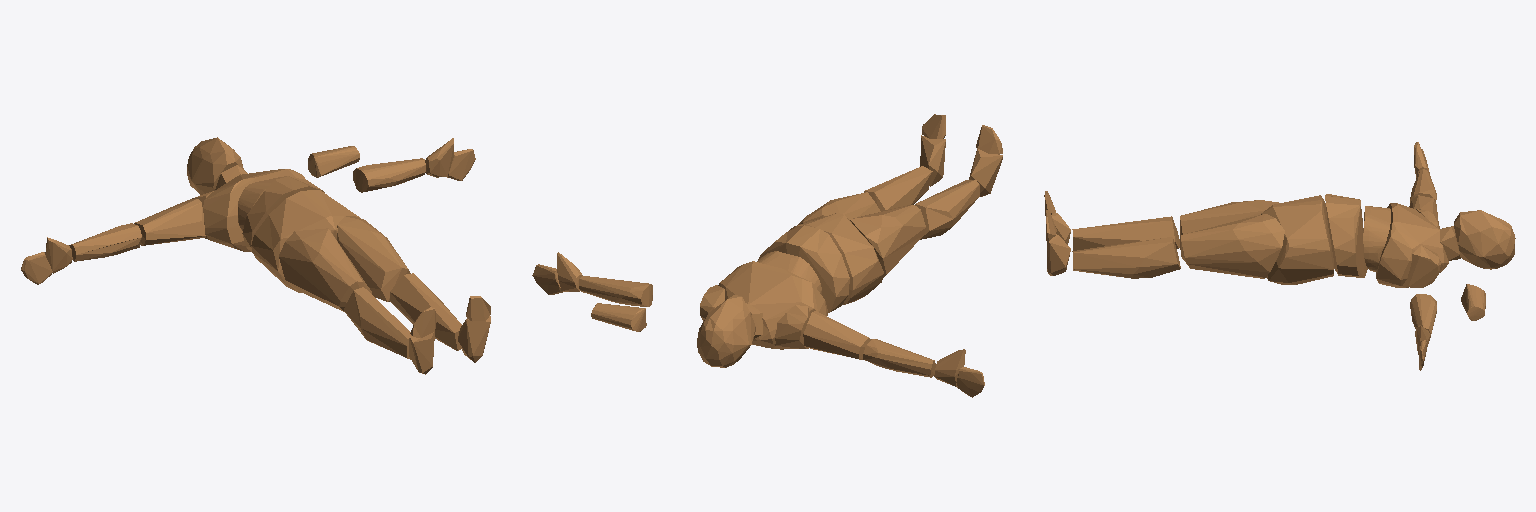
--- What the picture shows (computed from the rendered views, not written in the file) ---
3 views of the same robot in one strip: view 1: azimuth 30°, elevation 25°; view 2: azimuth 150°, elevation 25°; view 3: azimuth 270°, elevation 25° (orthographic).
Robot: human — 94 links, 93 joints (69 revolute, 24 fixed); root link base; default pose: every joint at zero.
Visible links, largest first — view 1: right_hip_limb, pelvis_limb, left_hip_limb, spine_4_limb, right_knee_limb, left_knee_limb, right_shoulder_limb, head_limb, right_elbow_limb, left_elbow_limb, spine_2_limb, left_shoulder_limb (+8 smaller); view 2: spine_4_limb, spine_2_limb, head_limb, right_hip_limb, pelvis_limb, right_knee_limb, right_shoulder_limb, left_knee_limb, right_elbow_limb, left_elbow_limb, right_clavicle_limb, left_hip_limb (+9 smaller); view 3: left_hip_limb, pelvis_limb, left_knee_limb, spine_4_limb, head_limb, spine_2_limb, right_knee_limb, right_hip_limb, spine_3_limb, left_clavicle_limb, left_elbow_limb, left_ankle_limb (+1 smaller).
Boxes of the visible links, x1,y1,x2,y2 form: right_hip_limb: (279,228,371,311); pelvis_limb: (251,190,359,292); left_hip_limb: (337,216,410,301); spine_4_limb: (203,169,305,251); right_knee_limb: (344,287,410,359); left_knee_limb: (390,273,461,350); right_shoulder_limb: (134,199,205,245); head_limb: (187,137,243,194); right_elbow_limb: (69,223,141,261); left_elbow_limb: (353,158,425,192); spine_2_limb: (242,176,324,251); left_shoulder_limb: (308,146,359,177); spine_4_limb: (718,261,827,349); spine_2_limb: (758,225,849,312); head_limb: (697,295,755,367); right_hip_limb: (850,205,925,277); pelvis_limb: (789,213,883,305); right_knee_limb: (915,180,979,239); right_shoulder_limb: (803,311,871,359); left_knee_limb: (864,166,932,211); right_elbow_limb: (863,339,935,377); left_elbow_limb: (579,276,652,306); right_clavicle_limb: (773,305,810,348); left_hip_limb: (798,192,880,224); left_hip_limb: (1181,214,1284,278); pelvis_limb: (1261,195,1333,284); left_knee_limb: (1072,237,1180,278); spine_4_limb: (1376,203,1448,287); head_limb: (1454,210,1515,269); spine_2_limb: (1325,194,1367,277); right_knee_limb: (1072,216,1179,250); right_hip_limb: (1180,200,1278,249); spine_3_limb: (1363,206,1390,271); left_clavicle_limb: (1403,245,1442,287); left_elbow_limb: (1410,294,1436,337); left_ankle_limb: (1047,234,1070,275).
Bounding box of the posed robot: 1.84 × 1.79 × 0.3258 m (x, y, z).
24 mesh visuals loaded from 24 distinct referenced files (24 OBJ).

URDF robot description (human):
<?xml version="1.0" ?>
<robot name="human">
	<link name="base">
		<inertial>
			<origin rpy="0.00000 0.0000 0.00000" xyz="0.00000 0.00000 0.00000"/>
			<mass value="0.00010"/>
			<inertia ixx="0.00000" ixy="0" ixz="0" iyy="0.00000" iyz="0" izz="0.00000"/>
		</inertial>
	</link>
	<link name="pelvis_limb">
		<inertial>
			<origin rpy="0.00000 0.0000 0.00000" xyz="0.00000 0.00000 0.00000"/>
			<mass value="2.00000"/>
			<inertia ixx="0.00000" ixy="0" ixz="0" iyy="0.00000" iyz="0" izz="0.00000"/>
		</inertial>
		<visual>
			<origin rpy="0.00000 0.0000 0.00000" xyz="0.00000 0.00000 0.00000"/>
			<geometry>
				<mesh filename="./assistive_gym/envs/assets/human/meshes/Pelvis.obj" scale="1.00000 1.00000 1.00000"/>
			</geometry>
			<material name="mat_0_0">
				<color rgba="0.71879 0.53909 0.35939 1.00000" />
			</material>
		</visual>
		<collision>
			<origin rpy="0.00000 0.0000 0.00000" xyz="0.00000 0.00000 0.00000"/>
			<geometry>
				<mesh filename="./assistive_gym/envs/assets/human/meshes/Pelvis.obj" scale="1.00000 1.00000 1.00000"/>
			</geometry>
		</collision>
	</link>
	<link name="left_hip_rx">
		<inertial>
			<origin rpy="0.00000 0.0000 0.00000" xyz="0.00000 0.00000 0.00000"/>
			<mass value="0.00000"/>
			<inertia ixx="0.00000" ixy="0" ixz="0" iyy="0.00000" iyz="0" izz="0.00000"/>
		</inertial>
		<visual>
			<origin rpy="0.00000 0.0000 0.00000" xyz="0.00000 0.00000 0.00000"/>
			<geometry>
				<sphere radius="0.00000"/>
			</geometry>
			<material name="mat_1_0">
				<color rgba="0.71879 0.53909 0.35939 1.00000" />
			</material>
		</visual>
		<collision>
			<origin rpy="0.00000 0.0000 0.00000" xyz="0.00000 0.00000 0.00000"/>
			<geometry>
				<sphere radius="0.00000"/>
			</geometry>
		</collision>
	</link>
	<link name="left_hip_ry">
		<inertial>
			<origin rpy="0.00000 0.0000 0.00000" xyz="0.00000 0.00000 0.00000"/>
			<mass value="0.00000"/>
			<inertia ixx="0.00000" ixy="0" ixz="0" iyy="0.00000" iyz="0" izz="0.00000"/>
		</inertial>
		<visual>
			<origin rpy="0.00000 0.0000 0.00000" xyz="0.00000 0.00000 0.00000"/>
			<geometry>
				<sphere radius="0.00000"/>
			</geometry>
			<material name="mat_2_0">
				<color rgba="0.71879 0.53909 0.35939 1.00000" />
			</material>
		</visual>
		<collision>
			<origin rpy="0.00000 0.0000 0.00000" xyz="0.00000 0.00000 0.00000"/>
			<geometry>
				<sphere radius="0.00000"/>
			</geometry>
		</collision>
	</link>
	<link name="left_hip_rz">
		<inertial>
			<origin rpy="0.00000 0.0000 0.00000" xyz="0.00000 0.00000 0.00000"/>
			<mass value="0.00000"/>
			<inertia ixx="0.00000" ixy="0" ixz="0" iyy="0.00000" iyz="0" izz="0.00000"/>
		</inertial>
		<visual>
			<origin rpy="0.00000 0.0000 0.00000" xyz="0.00000 0.00000 0.00000"/>
			<geometry>
				<sphere radius="0.00000"/>
			</geometry>
			<material name="mat_3_0">
				<color rgba="0.71879 0.53909 0.35939 1.00000" />
			</material>
		</visual>
		<collision>
			<origin rpy="0.00000 0.0000 0.00000" xyz="0.00000 0.00000 0.00000"/>
			<geometry>
				<sphere radius="0.00000"/>
			</geometry>
		</collision>
	</link>
	<link name="left_hip_limb">
		<inertial>
			<origin rpy="0.00000 0.0000 0.00000" xyz="0.00000 0.00000 0.00000"/>
			<mass value="2.00000"/>
			<inertia ixx="0.00000" ixy="0" ixz="0" iyy="0.00000" iyz="0" izz="0.00000"/>
		</inertial>
		<visual>
			<origin rpy="0.00000 0.0000 0.00000" xyz="0.00000 0.00000 0.00000"/>
			<geometry>
				<mesh filename="./././assistive_gym/envs/assets/human/meshes/L_Hip.obj" scale="1.00000 1.00000 1.00000"/>
			</geometry>
			<material name="mat_4_0">
				<color rgba="0.71879 0.53909 0.35939 1.00000" />
			</material>
		</visual>
		<collision>
			<origin rpy="0.00000 0.0000 0.00000" xyz="0.00000 0.00000 0.00000"/>
			<geometry>
				<mesh filename="./././assistive_gym/envs/assets/human/meshes/L_Hip.obj" scale="1.00000 1.00000 1.00000"/>
			</geometry>
		</collision>
	</link>
	<link name="left_knee_rx">
		<inertial>
			<origin rpy="0.00000 0.0000 0.00000" xyz="0.00000 0.00000 0.00000"/>
			<mass value="0.00000"/>
			<inertia ixx="0.00000" ixy="0" ixz="0" iyy="0.00000" iyz="0" izz="0.00000"/>
		</inertial>
		<visual>
			<origin rpy="0.00000 0.0000 0.00000" xyz="0.00000 0.00000 0.00000"/>
			<geometry>
				<sphere radius="0.00000"/>
			</geometry>
			<material name="mat_5_0">
				<color rgba="0.71879 0.53909 0.35939 1.00000" />
			</material>
		</visual>
		<collision>
			<origin rpy="0.00000 0.0000 0.00000" xyz="0.00000 0.00000 0.00000"/>
			<geometry>
				<sphere radius="0.00000"/>
			</geometry>
		</collision>
	</link>
	<link name="left_knee_ry">
		<inertial>
			<origin rpy="0.00000 0.0000 0.00000" xyz="0.00000 0.00000 0.00000"/>
			<mass value="0.00000"/>
			<inertia ixx="0.00000" ixy="0" ixz="0" iyy="0.00000" iyz="0" izz="0.00000"/>
		</inertial>
		<visual>
			<origin rpy="0.00000 0.0000 0.00000" xyz="0.00000 0.00000 0.00000"/>
			<geometry>
				<sphere radius="0.00000"/>
			</geometry>
			<material name="mat_6_0">
				<color rgba="0.71879 0.53909 0.35939 1.00000" />
			</material>
		</visual>
		<collision>
			<origin rpy="0.00000 0.0000 0.00000" xyz="0.00000 0.00000 0.00000"/>
			<geometry>
				<sphere radius="0.00000"/>
			</geometry>
		</collision>
	</link>
	<link name="left_knee_rz">
		<inertial>
			<origin rpy="0.00000 0.0000 0.00000" xyz="0.00000 0.00000 0.00000"/>
			<mass value="0.00000"/>
			<inertia ixx="0.00000" ixy="0" ixz="0" iyy="0.00000" iyz="0" izz="0.00000"/>
		</inertial>
		<visual>
			<origin rpy="0.00000 0.0000 0.00000" xyz="0.00000 0.00000 0.00000"/>
			<geometry>
				<sphere radius="0.00000"/>
			</geometry>
			<material name="mat_7_0">
				<color rgba="0.71879 0.53909 0.35939 1.00000" />
			</material>
		</visual>
		<collision>
			<origin rpy="0.00000 0.0000 0.00000" xyz="0.00000 0.00000 0.00000"/>
			<geometry>
				<sphere radius="0.00000"/>
			</geometry>
		</collision>
	</link>
	<link name="left_knee_limb">
		<inertial>
			<origin rpy="0.00000 0.0000 0.00000" xyz="0.00000 0.00000 0.00000"/>
			<mass value="2.00000"/>
			<inertia ixx="0.03487" ixy="0" ixz="0" iyy="0.00791" iyz="0" izz="0.03324"/>
		</inertial>
		<visual>
			<origin rpy="0.00000 0.0000 0.00000" xyz="0.00000 0.00000 0.00000"/>
			<geometry>
				<mesh filename="./././assistive_gym/envs/assets/human/meshes/L_Knee.obj" scale="1.00000 1.00000 1.00000"/>
			</geometry>
			<material name="mat_8_0">
				<color rgba="0.71879 0.53909 0.35939 1.00000" />
			</material>
		</visual>
		<collision>
			<origin rpy="0.00000 0.0000 0.00000" xyz="0.00000 0.00000 0.00000"/>
			<geometry>
				<mesh filename="./././assistive_gym/envs/assets/human/meshes/L_Knee.obj" scale="1.00000 1.00000 1.00000"/>
			</geometry>
		</collision>
	</link>
	<link name="left_ankle_rx">
		<inertial>
			<origin rpy="0.00000 0.0000 0.00000" xyz="0.00000 0.00000 0.00000"/>
			<mass value="0.00000"/>
			<inertia ixx="0.00000" ixy="0" ixz="0" iyy="0.00000" iyz="0" izz="0.00000"/>
		</inertial>
		<visual>
			<origin rpy="0.00000 0.0000 0.00000" xyz="0.00000 0.00000 0.00000"/>
			<geometry>
				<sphere radius="0.00000"/>
			</geometry>
			<material name="mat_9_0">
				<color rgba="0.71879 0.53909 0.35939 1.00000" />
			</material>
		</visual>
		<collision>
			<origin rpy="0.00000 0.0000 0.00000" xyz="0.00000 0.00000 0.00000"/>
			<geometry>
				<sphere radius="0.00000"/>
			</geometry>
		</collision>
	</link>
	<link name="left_ankle_ry">
		<inertial>
			<origin rpy="0.00000 0.0000 0.00000" xyz="0.00000 0.00000 0.00000"/>
			<mass value="0.00000"/>
			<inertia ixx="0.00000" ixy="0" ixz="0" iyy="0.00000" iyz="0" izz="0.00000"/>
		</inertial>
		<visual>
			<origin rpy="0.00000 0.0000 0.00000" xyz="0.00000 0.00000 0.00000"/>
			<geometry>
				<sphere radius="0.00000"/>
			</geometry>
			<material name="mat_10_0">
				<color rgba="0.71879 0.53909 0.35939 1.00000" />
			</material>
		</visual>
		<collision>
			<origin rpy="0.00000 0.0000 0.00000" xyz="0.00000 0.00000 0.00000"/>
			<geometry>
				<sphere radius="0.00000"/>
			</geometry>
		</collision>
	</link>
	<link name="left_ankle_rz">
		<inertial>
			<origin rpy="0.00000 0.0000 0.00000" xyz="0.00000 0.00000 0.00000"/>
			<mass value="0.00000"/>
			<inertia ixx="0.00000" ixy="0" ixz="0" iyy="0.00000" iyz="0" izz="0.00000"/>
		</inertial>
		<visual>
			<origin rpy="0.00000 0.0000 0.00000" xyz="0.00000 0.00000 0.00000"/>
			<geometry>
				<sphere radius="0.00000"/>
			</geometry>
			<material name="mat_11_0">
				<color rgba="0.71879 0.53909 0.35939 1.00000" />
			</material>
		</visual>
		<collision>
			<origin rpy="0.00000 0.0000 0.00000" xyz="0.00000 0.00000 0.00000"/>
			<geometry>
				<sphere radius="0.00000"/>
			</geometry>
		</collision>
	</link>
	<link name="left_ankle_limb">
		<inertial>
			<origin rpy="0.00000 0.0000 0.00000" xyz="0.00000 0.00000 0.00000"/>
			<mass value="2.00000"/>
			<inertia ixx="0.00736" ixy="0" ixz="0" iyy="0.00763" iyz="0" izz="0.00377"/>
		</inertial>
		<visual>
			<origin rpy="0.00000 0.0000 0.00000" xyz="0.00000 0.00000 0.00000"/>
			<geometry>
				<mesh filename="./././assistive_gym/envs/assets/human/meshes/L_Ankle.obj" scale="1.00000 1.00000 1.00000"/>
			</geometry>
			<material name="mat_12_0">
				<color rgba="0.71879 0.53909 0.35939 1.00000" />
			</material>
		</visual>
		<collision>
			<origin rpy="0.00000 0.0000 0.00000" xyz="0.00000 0.00000 0.00000"/>
			<geometry>
				<mesh filename="./././assistive_gym/envs/assets/human/meshes/L_Ankle.obj" scale="1.00000 1.00000 1.00000"/>
			</geometry>
		</collision>
	</link>
	<link name="left_foot_rx">
		<inertial>
			<origin rpy="0.00000 0.0000 0.00000" xyz="0.00000 0.00000 0.00000"/>
			<mass value="0.00000"/>
			<inertia ixx="0.00000" ixy="0" ixz="0" iyy="0.00000" iyz="0" izz="0.00000"/>
		</inertial>
		<visual>
			<origin rpy="0.00000 0.0000 0.00000" xyz="0.00000 0.00000 0.00000"/>
			<geometry>
				<sphere radius="0.00000"/>
			</geometry>
			<material name="mat_13_0">
				<color rgba="0.71879 0.53909 0.35939 1.00000" />
			</material>
		</visual>
		<collision>
			<origin rpy="0.00000 0.0000 0.00000" xyz="0.00000 0.00000 0.00000"/>
			<geometry>
				<sphere radius="0.00000"/>
			</geometry>
		</collision>
	</link>
	<link name="left_foot_ry">
		<inertial>
			<origin rpy="0.00000 0.0000 0.00000" xyz="0.00000 0.00000 0.00000"/>
			<mass value="0.00000"/>
			<inertia ixx="0.00000" ixy="0" ixz="0" iyy="0.00000" iyz="0" izz="0.00000"/>
		</inertial>
		<visual>
			<origin rpy="0.00000 0.0000 0.00000" xyz="0.00000 0.00000 0.00000"/>
			<geometry>
				<sphere radius="0.00000"/>
			</geometry>
			<material name="mat_14_0">
				<color rgba="0.71879 0.53909 0.35939 1.00000" />
			</material>
		</visual>
		<collision>
			<origin rpy="0.00000 0.0000 0.00000" xyz="0.00000 0.00000 0.00000"/>
			<geometry>
				<sphere radius="0.00000"/>
			</geometry>
		</collision>
	</link>
	<link name="left_foot_rz">
		<inertial>
			<origin rpy="0.00000 0.0000 0.00000" xyz="0.00000 0.00000 0.00000"/>
			<mass value="0.00000"/>
			<inertia ixx="0.00000" ixy="0" ixz="0" iyy="0.00000" iyz="0" izz="0.00000"/>
		</inertial>
		<visual>
			<origin rpy="0.00000 0.0000 0.00000" xyz="0.00000 0.00000 0.00000"/>
			<geometry>
				<sphere radius="0.00000"/>
			</geometry>
			<material name="mat_15_0">
				<color rgba="0.71879 0.53909 0.35939 1.00000" />
			</material>
		</visual>
		<collision>
			<origin rpy="0.00000 0.0000 0.00000" xyz="0.00000 0.00000 0.00000"/>
			<geometry>
				<sphere radius="0.00000"/>
			</geometry>
		</collision>
	</link>
	<link name="left_foot_limb">
		<inertial>
			<origin rpy="0.00000 0.0000 0.00000" xyz="0.00000 0.00000 0.00000"/>
			<mass value="2.00000"/>
			<inertia ixx="0.00118" ixy="0" ixz="0" iyy="0.00193" iyz="0" izz="0.00113"/>
		</inertial>
		<visual>
			<origin rpy="0.00000 0.0000 0.00000" xyz="0.00000 0.00000 0.00000"/>
			<geometry>
				<mesh filename="./././assistive_gym/envs/assets/human/meshes/L_Foot.obj" scale="1.00000 1.00000 1.00000"/>
			</geometry>
			<material name="mat_16_0">
				<color rgba="0.71879 0.53909 0.35939 1.00000" />
			</material>
		</visual>
		<collision>
			<origin rpy="0.00000 0.0000 0.00000" xyz="0.00000 0.00000 0.00000"/>
			<geometry>
				<mesh filename="./././assistive_gym/envs/assets/human/meshes/L_Foot.obj" scale="1.00000 1.00000 1.00000"/>
			</geometry>
		</collision>
	</link>
	<link name="right_hip_rx">
		<inertial>
			<origin rpy="0.00000 0.0000 0.00000" xyz="0.00000 0.00000 0.00000"/>
			<mass value="0.00000"/>
			<inertia ixx="0.00000" ixy="0" ixz="0" iyy="0.00000" iyz="0" izz="0.00000"/>
		</inertial>
		<visual>
			<origin rpy="0.00000 0.0000 0.00000" xyz="0.00000 0.00000 0.00000"/>
			<geometry>
				<sphere radius="0.00000"/>
			</geometry>
			<material name="mat_19_0">
				<color rgba="0.71879 0.53909 0.35939 1.00000" />
			</material>
		</visual>
		<collision>
			<origin rpy="0.00000 0.0000 0.00000" xyz="0.00000 0.00000 0.00000"/>
			<geometry>
				<sphere radius="0.00000"/>
			</geometry>
		</collision>
	</link>
	<link name="right_hip_ry">
		<inertial>
			<origin rpy="0.00000 0.0000 0.00000" xyz="0.00000 0.00000 0.00000"/>
			<mass value="0.00000"/>
			<inertia ixx="0.00000" ixy="0" ixz="0" iyy="0.00000" iyz="0" izz="0.00000"/>
		</inertial>
		<visual>
			<origin rpy="0.00000 0.0000 0.00000" xyz="0.00000 0.00000 0.00000"/>
			<geometry>
				<sphere radius="0.00000"/>
			</geometry>
			<material name="mat_20_0">
				<color rgba="0.71879 0.53909 0.35939 1.00000" />
			</material>
		</visual>
		<collision>
			<origin rpy="0.00000 0.0000 0.00000" xyz="0.00000 0.00000 0.00000"/>
			<geometry>
				<sphere radius="0.00000"/>
			</geometry>
		</collision>
	</link>
	<link name="right_hip_rz">
		<inertial>
			<origin rpy="0.00000 0.0000 0.00000" xyz="0.00000 0.00000 0.00000"/>
			<mass value="0.00000"/>
			<inertia ixx="0.00000" ixy="0" ixz="0" iyy="0.00000" iyz="0" izz="0.00000"/>
		</inertial>
		<visual>
			<origin rpy="0.00000 0.0000 0.00000" xyz="0.00000 0.00000 0.00000"/>
			<geometry>
				<sphere radius="0.00000"/>
			</geometry>
			<material name="mat_21_0">
				<color rgba="0.71879 0.53909 0.35939 1.00000" />
			</material>
		</visual>
		<collision>
			<origin rpy="0.00000 0.0000 0.00000" xyz="0.00000 0.00000 0.00000"/>
			<geometry>
				<sphere radius="0.00000"/>
			</geometry>
		</collision>
	</link>
	<link name="right_hip_limb">
		<inertial>
			<origin rpy="0.00000 0.0000 0.00000" xyz="0.00000 0.00000 0.00000"/>
			<mass value="2.00000"/>
			<inertia ixx="0.00000" ixy="0" ixz="0" iyy="0.00000" iyz="0" izz="0.00000"/>
		</inertial>
		<visual>
			<origin rpy="0.00000 0.0000 0.00000" xyz="0.00000 0.00000 0.00000"/>
			<geometry>
				<mesh filename="./././assistive_gym/envs/assets/human/meshes/R_Hip.obj" scale="1.00000 1.00000 1.00000"/>
			</geometry>
			<material name="mat_22_0">
				<color rgba="0.71879 0.53909 0.35939 1.00000" />
			</material>
		</visual>
		<collision>
			<origin rpy="0.00000 0.0000 0.00000" xyz="0.00000 0.00000 0.00000"/>
			<geometry>
				<mesh filename="./././assistive_gym/envs/assets/human/meshes/R_Hip.obj" scale="1.00000 1.00000 1.00000"/>
			</geometry>
		</collision>
	</link>
	<link name="right_knee_rx">
		<inertial>
			<origin rpy="0.00000 0.0000 0.00000" xyz="0.00000 0.00000 0.00000"/>
			<mass value="0.00000"/>
			<inertia ixx="0.00000" ixy="0" ixz="0" iyy="0.00000" iyz="0" izz="0.00000"/>
		</inertial>
		<visual>
			<origin rpy="0.00000 0.0000 0.00000" xyz="0.00000 0.00000 0.00000"/>
			<geometry>
				<sphere radius="0.00000"/>
			</geometry>
			<material name="mat_23_0">
				<color rgba="0.71879 0.53909 0.35939 1.00000" />
			</material>
		</visual>
		<collision>
			<origin rpy="0.00000 0.0000 0.00000" xyz="0.00000 0.00000 0.00000"/>
			<geometry>
				<sphere radius="0.00000"/>
			</geometry>
		</collision>
	</link>
	<link name="right_knee_ry">
		<inertial>
			<origin rpy="0.00000 0.0000 0.00000" xyz="0.00000 0.00000 0.00000"/>
			<mass value="0.00000"/>
			<inertia ixx="0.00000" ixy="0" ixz="0" iyy="0.00000" iyz="0" izz="0.00000"/>
		</inertial>
		<visual>
			<origin rpy="0.00000 0.0000 0.00000" xyz="0.00000 0.00000 0.00000"/>
			<geometry>
				<sphere radius="0.00000"/>
			</geometry>
			<material name="mat_24_0">
				<color rgba="0.71879 0.53909 0.35939 1.00000" />
			</material>
		</visual>
		<collision>
			<origin rpy="0.00000 0.0000 0.00000" xyz="0.00000 0.00000 0.00000"/>
			<geometry>
				<sphere radius="0.00000"/>
			</geometry>
		</collision>
	</link>
	<link name="right_knee_rz">
		<inertial>
			<origin rpy="0.00000 0.0000 0.00000" xyz="0.00000 0.00000 0.00000"/>
			<mass value="0.00000"/>
			<inertia ixx="0.00000" ixy="0" ixz="0" iyy="0.00000" iyz="0" izz="0.00000"/>
		</inertial>
		<visual>
			<origin rpy="0.00000 0.0000 0.00000" xyz="0.00000 0.00000 0.00000"/>
			<geometry>
				<sphere radius="0.00000"/>
			</geometry>
			<material name="mat_25_0">
				<color rgba="0.71879 0.53909 0.35939 1.00000" />
			</material>
		</visual>
		<collision>
			<origin rpy="0.00000 0.0000 0.00000" xyz="0.00000 0.00000 0.00000"/>
			<geometry>
				<sphere radius="0.00000"/>
			</geometry>
		</collision>
	</link>
	<link name="right_knee_limb">
		<inertial>
			<origin rpy="0.00000 0.0000 0.00000" xyz="0.00000 0.00000 0.00000"/>
			<mass value="2.00000"/>
			<inertia ixx="0.03468" ixy="0" ixz="0" iyy="0.00776" iyz="0" izz="0.03330"/>
		</inertial>
		<visual>
			<origin rpy="0.00000 0.0000 0.00000" xyz="0.00000 0.00000 0.00000"/>
			<geometry>
				<mesh filename="./././assistive_gym/envs/assets/human/meshes/R_Knee.obj" scale="1.00000 1.00000 1.00000"/>
			</geometry>
			<material name="mat_26_0">
				<color rgba="0.71879 0.53909 0.35939 1.00000" />
			</material>
		</visual>
		<collision>
			<origin rpy="0.00000 0.0000 0.00000" xyz="0.00000 0.00000 0.00000"/>
			<geometry>
				<mesh filename="./././assistive_gym/envs/assets/human/meshes/R_Knee.obj" scale="1.00000 1.00000 1.00000"/>
			</geometry>
		</collision>
	</link>
	<link name="right_ankle_rx">
		<inertial>
			<origin rpy="0.00000 0.0000 0.00000" xyz="0.00000 0.00000 0.00000"/>
			<mass value="0.00000"/>
			<inertia ixx="0.00000" ixy="0" ixz="0" iyy="0.00000" iyz="0" izz="0.00000"/>
		</inertial>
		<visual>
			<origin rpy="0.00000 0.0000 0.00000" xyz="0.00000 0.00000 0.00000"/>
			<geometry>
				<sphere radius="0.00000"/>
			</geometry>
			<material name="mat_27_0">
				<color rgba="0.71879 0.53909 0.35939 1.00000" />
			</material>
		</visual>
		<collision>
			<origin rpy="0.00000 0.0000 0.00000" xyz="0.00000 0.00000 0.00000"/>
			<geometry>
				<sphere radius="0.00000"/>
			</geometry>
		</collision>
	</link>
	<link name="right_ankle_ry">
		<inertial>
			<origin rpy="0.00000 0.0000 0.00000" xyz="0.00000 0.00000 0.00000"/>
			<mass value="0.00000"/>
			<inertia ixx="0.00000" ixy="0" ixz="0" iyy="0.00000" iyz="0" izz="0.00000"/>
		</inertial>
		<visual>
			<origin rpy="0.00000 0.0000 0.00000" xyz="0.00000 0.00000 0.00000"/>
			<geometry>
				<sphere radius="0.00000"/>
			</geometry>
			<material name="mat_28_0">
				<color rgba="0.71879 0.53909 0.35939 1.00000" />
			</material>
		</visual>
		<collision>
			<origin rpy="0.00000 0.0000 0.00000" xyz="0.00000 0.00000 0.00000"/>
			<geometry>
				<sphere radius="0.00000"/>
			</geometry>
		</collision>
	</link>
	<link name="right_ankle_rz">
		<inertial>
			<origin rpy="0.00000 0.0000 0.00000" xyz="0.00000 0.00000 0.00000"/>
			<mass value="0.00000"/>
			<inertia ixx="0.00000" ixy="0" ixz="0" iyy="0.00000" iyz="0" izz="0.00000"/>
		</inertial>
		<visual>
			<origin rpy="0.00000 0.0000 0.00000" xyz="0.00000 0.00000 0.00000"/>
			<geometry>
				<sphere radius="0.00000"/>
			</geometry>
			<material name="mat_29_0">
				<color rgba="0.71879 0.53909 0.35939 1.00000" />
			</material>
		</visual>
		<collision>
			<origin rpy="0.00000 0.0000 0.00000" xyz="0.00000 0.00000 0.00000"/>
			<geometry>
				<sphere radius="0.00000"/>
			</geometry>
		</collision>
	</link>
	<link name="right_ankle_limb">
		<inertial>
			<origin rpy="0.00000 0.0000 0.00000" xyz="0.00000 0.00000 0.00000"/>
			<mass value="2.00000"/>
			<inertia ixx="0.00777" ixy="0" ixz="0" iyy="0.00782" iyz="0" izz="0.00385"/>
		</inertial>
		<visual>
			<origin rpy="0.00000 0.0000 0.00000" xyz="0.00000 0.00000 0.00000"/>
			<geometry>
				<mesh filename="./././assistive_gym/envs/assets/human/meshes/R_Ankle.obj" scale="1.00000 1.00000 1.00000"/>
			</geometry>
			<material name="mat_30_0">
				<color rgba="0.71879 0.53909 0.35939 1.00000" />
			</material>
		</visual>
		<collision>
			<origin rpy="0.00000 0.0000 0.00000" xyz="0.00000 0.00000 0.00000"/>
			<geometry>
				<mesh filename="./././assistive_gym/envs/assets/human/meshes/R_Ankle.obj" scale="1.00000 1.00000 1.00000"/>
			</geometry>
		</collision>
	</link>
	<link name="right_foot_rx">
		<inertial>
			<origin rpy="0.00000 0.0000 0.00000" xyz="0.00000 0.00000 0.00000"/>
			<mass value="0.00000"/>
			<inertia ixx="0.00000" ixy="0" ixz="0" iyy="0.00000" iyz="0" izz="0.00000"/>
		</inertial>
		<visual>
			<origin rpy="0.00000 0.0000 0.00000" xyz="0.00000 0.00000 0.00000"/>
			<geometry>
				<sphere radius="0.00000"/>
			</geometry>
			<material name="mat_31_0">
				<color rgba="0.71879 0.53909 0.35939 1.00000" />
			</material>
		</visual>
		<collision>
			<origin rpy="0.00000 0.0000 0.00000" xyz="0.00000 0.00000 0.00000"/>
			<geometry>
				<sphere radius="0.00000"/>
			</geometry>
		</collision>
	</link>
	<link name="right_foot_ry">
		<inertial>
			<origin rpy="0.00000 0.0000 0.00000" xyz="0.00000 0.00000 0.00000"/>
			<mass value="0.00000"/>
			<inertia ixx="0.00000" ixy="0" ixz="0" iyy="0.00000" iyz="0" izz="0.00000"/>
		</inertial>
		<visual>
			<origin rpy="0.00000 0.0000 0.00000" xyz="0.00000 0.00000 0.00000"/>
			<geometry>
				<sphere radius="0.00000"/>
			</geometry>
			<material name="mat_32_0">
				<color rgba="0.71879 0.53909 0.35939 1.00000" />
			</material>
		</visual>
		<collision>
			<origin rpy="0.00000 0.0000 0.00000" xyz="0.00000 0.00000 0.00000"/>
			<geometry>
				<sphere radius="0.00000"/>
			</geometry>
		</collision>
	</link>
	<link name="right_foot_rz">
		<inertial>
			<origin rpy="0.00000 0.0000 0.00000" xyz="0.00000 0.00000 0.00000"/>
			<mass value="0.00000"/>
			<inertia ixx="0.00000" ixy="0" ixz="0" iyy="0.00000" iyz="0" izz="0.00000"/>
		</inertial>
		<visual>
			<origin rpy="0.00000 0.0000 0.00000" xyz="0.00000 0.00000 0.00000"/>
			<geometry>
				<sphere radius="0.00000"/>
			</geometry>
			<material name="mat_33_0">
				<color rgba="0.71879 0.53909 0.35939 1.00000" />
			</material>
		</visual>
		<collision>
			<origin rpy="0.00000 0.0000 0.00000" xyz="0.00000 0.00000 0.00000"/>
			<geometry>
				<sphere radius="0.00000"/>
			</geometry>
		</collision>
	</link>
	<link name="right_foot_limb">
		<inertial>
			<origin rpy="0.00000 0.0000 0.00000" xyz="0.00000 0.00000 0.00000"/>
			<mass value="2.00000"/>
			<inertia ixx="0.00122" ixy="0" ixz="0" iyy="0.00197" iyz="0" izz="0.00116"/>
		</inertial>
		<visual>
			<origin rpy="0.00000 0.0000 0.00000" xyz="0.00000 0.00000 0.00000"/>
			<geometry>
				<mesh filename="./././assistive_gym/envs/assets/human/meshes/R_Foot.obj" scale="1.00000 1.00000 1.00000"/>
			</geometry>
			<material name="mat_34_0">
				<color rgba="0.71879 0.53909 0.35939 1.00000" />
			</material>
		</visual>
		<collision>
			<origin rpy="0.00000 0.0000 0.00000" xyz="0.00000 0.00000 0.00000"/>
			<geometry>
				<mesh filename="./././assistive_gym/envs/assets/human/meshes/R_Foot.obj" scale="1.00000 1.00000 1.00000"/>
			</geometry>
		</collision>
	</link>
	<link name="spine_2_rx">
		<inertial>
			<origin rpy="0.00000 0.0000 0.00000" xyz="0.00000 0.00000 0.00000"/>
			<mass value="0.00000"/>
			<inertia ixx="0.00000" ixy="0" ixz="0" iyy="0.00000" iyz="0" izz="0.00000"/>
		</inertial>
		<visual>
			<origin rpy="0.00000 0.0000 0.00000" xyz="0.00000 0.00000 0.00000"/>
			<geometry>
				<sphere radius="0.00000"/>
			</geometry>
			<material name="mat_37_0">
				<color rgba="0.71879 0.53909 0.35939 1.00000" />
			</material>
		</visual>
		<collision>
			<origin rpy="0.00000 0.0000 0.00000" xyz="0.00000 0.00000 0.00000"/>
			<geometry>
				<sphere radius="0.00000"/>
			</geometry>
		</collision>
	</link>
	<link name="spine_2_ry">
		<inertial>
			<origin rpy="0.00000 0.0000 0.00000" xyz="0.00000 0.00000 0.00000"/>
			<mass value="0.00000"/>
			<inertia ixx="0.00000" ixy="0" ixz="0" iyy="0.00000" iyz="0" izz="0.00000"/>
		</inertial>
		<visual>
			<origin rpy="0.00000 0.0000 0.00000" xyz="0.00000 0.00000 0.00000"/>
			<geometry>
				<sphere radius="0.00000"/>
			</geometry>
			<material name="mat_38_0">
				<color rgba="0.71879 0.53909 0.35939 1.00000" />
			</material>
		</visual>
		<collision>
			<origin rpy="0.00000 0.0000 0.00000" xyz="0.00000 0.00000 0.00000"/>
			<geometry>
				<sphere radius="0.00000"/>
			</geometry>
		</collision>
	</link>
	<link name="spine_2_rz">
		<inertial>
			<origin rpy="0.00000 0.0000 0.00000" xyz="0.00000 0.00000 0.00000"/>
			<mass value="0.00000"/>
			<inertia ixx="0.00000" ixy="0" ixz="0" iyy="0.00000" iyz="0" izz="0.00000"/>
		</inertial>
		<visual>
			<origin rpy="0.00000 0.0000 0.00000" xyz="0.00000 0.00000 0.00000"/>
			<geometry>
				<sphere radius="0.00000"/>
			</geometry>
			<material name="mat_39_0">
				<color rgba="0.71879 0.53909 0.35939 1.00000" />
			</material>
		</visual>
		<collision>
			<origin rpy="0.00000 0.0000 0.00000" xyz="0.00000 0.00000 0.00000"/>
			<geometry>
				<sphere radius="0.00000"/>
			</geometry>
		</collision>
	</link>
	<link name="spine_2_limb">
		<inertial>
			<origin rpy="0.00000 0.0000 0.00000" xyz="0.00000 0.00000 0.00000"/>
			<mass value="2.00000"/>
			<inertia ixx="0.01821" ixy="0" ixz="0" iyy="0.03264" iyz="0" izz="0.02330"/>
		</inertial>
		<visual>
			<origin rpy="0.00000 0.0000 0.00000" xyz="0.00000 0.00000 0.00000"/>
			<geometry>
				<mesh filename="./././assistive_gym/envs/assets/human/meshes/Spine1.obj" scale="1.00000 1.00000 1.00000"/>
			</geometry>
			<material name="mat_40_0">
				<color rgba="0.71879 0.53909 0.35939 1.00000" />
			</material>
		</visual>
		<collision>
			<origin rpy="0.00000 0.0000 0.00000" xyz="0.00000 0.00000 0.00000"/>
			<geometry>
				<mesh filename="./././assistive_gym/envs/assets/human/meshes/Spine1.obj" scale="1.00000 1.00000 1.00000"/>
			</geometry>
		</collision>
	</link>
	<link name="spine_3_rx">
		<inertial>
			<origin rpy="0.00000 0.0000 0.00000" xyz="0.00000 0.00000 0.00000"/>
			<mass value="0.00000"/>
			<inertia ixx="0.00000" ixy="0" ixz="0" iyy="0.00000" iyz="0" izz="0.00000"/>
		</inertial>
		<visual>
			<origin rpy="0.00000 0.0000 0.00000" xyz="0.00000 0.00000 0.00000"/>
			<geometry>
				<sphere radius="0.00000"/>
			</geometry>
			<material name="mat_41_0">
				<color rgba="0.71879 0.53909 0.35939 1.00000" />
			</material>
		</visual>
		<collision>
			<origin rpy="0.00000 0.0000 0.00000" xyz="0.00000 0.00000 0.00000"/>
			<geometry>
				<sphere radius="0.00000"/>
			</geometry>
		</collision>
	</link>
	<link name="spine_3_ry">
		<inertial>
			<origin rpy="0.00000 0.0000 0.00000" xyz="0.00000 0.00000 0.00000"/>
			<mass value="0.00000"/>
			<inertia ixx="0.00000" ixy="0" ixz="0" iyy="0.00000" iyz="0" izz="0.00000"/>
		</inertial>
		<visual>
			<origin rpy="0.00000 0.0000 0.00000" xyz="0.00000 0.00000 0.00000"/>
			<geometry>
				<sphere radius="0.00000"/>
			</geometry>
			<material name="mat_42_0">
				<color rgba="0.71879 0.53909 0.35939 1.00000" />
			</material>
		</visual>
		<collision>
			<origin rpy="0.00000 0.0000 0.00000" xyz="0.00000 0.00000 0.00000"/>
			<geometry>
				<sphere radius="0.00000"/>
			</geometry>
		</collision>
	</link>
	<link name="spine_3_rz">
		<inertial>
			<origin rpy="0.00000 0.0000 0.00000" xyz="0.00000 0.00000 0.00000"/>
			<mass value="0.00000"/>
			<inertia ixx="0.00000" ixy="0" ixz="0" iyy="0.00000" iyz="0" izz="0.00000"/>
		</inertial>
		<visual>
			<origin rpy="0.00000 0.0000 0.00000" xyz="0.00000 0.00000 0.00000"/>
			<geometry>
				<sphere radius="0.00000"/>
			</geometry>
			<material name="mat_43_0">
				<color rgba="0.71879 0.53909 0.35939 1.00000" />
			</material>
		</visual>
		<collision>
			<origin rpy="0.00000 0.0000 0.00000" xyz="0.00000 0.00000 0.00000"/>
			<geometry>
				<sphere radius="0.00000"/>
			</geometry>
		</collision>
	</link>
	<link name="spine_3_limb">
		<inertial>
			<origin rpy="0.00000 0.0000 0.00000" xyz="0.00000 0.00000 0.00000"/>
			<mass value="2.00000"/>
			<inertia ixx="0.01582" ixy="0" ixz="0" iyy="0.03312" iyz="0" izz="0.02315"/>
		</inertial>
		<visual>
			<origin rpy="0.00000 0.0000 0.00000" xyz="0.00000 0.00000 0.00000"/>
			<geometry>
				<mesh filename="./././assistive_gym/envs/assets/human/meshes/Spine2.obj" scale="1.00000 1.00000 1.00000"/>
			</geometry>
			<material name="mat_44_0">
				<color rgba="0.71879 0.53909 0.35939 1.00000" />
			</material>
		</visual>
		<collision>
			<origin rpy="0.00000 0.0000 0.00000" xyz="0.00000 0.00000 0.00000"/>
			<geometry>
				<mesh filename="./././assistive_gym/envs/assets/human/meshes/Spine2.obj" scale="1.00000 1.00000 1.00000"/>
			</geometry>
		</collision>
	</link>
	<link name="spine_4_rx">
		<inertial>
			<origin rpy="0.00000 0.0000 0.00000" xyz="0.00000 0.00000 0.00000"/>
			<mass value="0.00000"/>
			<inertia ixx="0.00000" ixy="0" ixz="0" iyy="0.00000" iyz="0" izz="0.00000"/>
		</inertial>
		<visual>
			<origin rpy="0.00000 0.0000 0.00000" xyz="0.00000 0.00000 0.00000"/>
			<geometry>
				<sphere radius="0.00000"/>
			</geometry>
			<material name="mat_45_0">
				<color rgba="0.71879 0.53909 0.35939 1.00000" />
			</material>
		</visual>
		<collision>
			<origin rpy="0.00000 0.0000 0.00000" xyz="0.00000 0.00000 0.00000"/>
			<geometry>
				<sphere radius="0.00000"/>
			</geometry>
		</collision>
	</link>
	<link name="spine_4_ry">
		<inertial>
			<origin rpy="0.00000 0.0000 0.00000" xyz="0.00000 0.00000 0.00000"/>
			<mass value="0.00000"/>
			<inertia ixx="0.00000" ixy="0" ixz="0" iyy="0.00000" iyz="0" izz="0.00000"/>
		</inertial>
		<visual>
			<origin rpy="0.00000 0.0000 0.00000" xyz="0.00000 0.00000 0.00000"/>
			<geometry>
				<sphere radius="0.00000"/>
			</geometry>
			<material name="mat_46_0">
				<color rgba="0.71879 0.53909 0.35939 1.00000" />
			</material>
		</visual>
		<collision>
			<origin rpy="0.00000 0.0000 0.00000" xyz="0.00000 0.00000 0.00000"/>
			<geometry>
				<sphere radius="0.00000"/>
			</geometry>
		</collision>
	</link>
	<link name="spine_4_rz">
		<inertial>
			<origin rpy="0.00000 0.0000 0.00000" xyz="0.00000 0.00000 0.00000"/>
			<mass value="0.00000"/>
			<inertia ixx="0.00000" ixy="0" ixz="0" iyy="0.00000" iyz="0" izz="0.00000"/>
		</inertial>
		<visual>
			<origin rpy="0.00000 0.0000 0.00000" xyz="0.00000 0.00000 0.00000"/>
			<geometry>
				<sphere radius="0.00000"/>
			</geometry>
			<material name="mat_47_0">
				<color rgba="0.71879 0.53909 0.35939 1.00000" />
			</material>
		</visual>
		<collision>
			<origin rpy="0.00000 0.0000 0.00000" xyz="0.00000 0.00000 0.00000"/>
			<geometry>
				<sphere radius="0.00000"/>
			</geometry>
		</collision>
	</link>
	<link name="spine_4_limb">
		<inertial>
			<origin rpy="0.00000 0.0000 0.00000" xyz="0.00000 0.00000 0.00000"/>
			<mass value="2.00000"/>
			<inertia ixx="0.02460" ixy="0" ixz="0" iyy="0.04485" iyz="0" izz="0.04578"/>
		</inertial>
		<visual>
			<origin rpy="0.00000 0.0000 0.00000" xyz="0.00000 0.00000 0.00000"/>
			<geometry>
				<mesh filename="./././assistive_gym/envs/assets/human/meshes/Spine3.obj" scale="1.00000 1.00000 1.00000"/>
			</geometry>
			<material name="mat_48_0">
				<color rgba="0.71879 0.53909 0.35939 1.00000" />
			</material>
		</visual>
		<collision>
			<origin rpy="0.00000 0.0000 0.00000" xyz="0.00000 0.00000 0.00000"/>
			<geometry>
				<mesh filename="./././assistive_gym/envs/assets/human/meshes/Spine3.obj" scale="1.00000 1.00000 1.00000"/>
			</geometry>
		</collision>
	</link>
	<link name="neck_rx">
		<inertial>
			<origin rpy="0.00000 0.0000 0.00000" xyz="0.00000 0.00000 0.00000"/>
			<mass value="0.00000"/>
			<inertia ixx="0.00000" ixy="0" ixz="0" iyy="0.00000" iyz="0" izz="0.00000"/>
		</inertial>
		<visual>
			<origin rpy="0.00000 0.0000 0.00000" xyz="0.00000 0.00000 0.00000"/>
			<geometry>
				<sphere radius="0.00000"/>
			</geometry>
			<material name="mat_49_0">
				<color rgba="0.71879 0.53909 0.35939 1.00000" />
			</material>
		</visual>
		<collision>
			<origin rpy="0.00000 0.0000 0.00000" xyz="0.00000 0.00000 0.00000"/>
			<geometry>
				<sphere radius="0.00000"/>
			</geometry>
		</collision>
	</link>
	<link name="neck_ry">
		<inertial>
			<origin rpy="0.00000 0.0000 0.00000" xyz="0.00000 0.00000 0.00000"/>
			<mass value="0.00000"/>
			<inertia ixx="0.00000" ixy="0" ixz="0" iyy="0.00000" iyz="0" izz="0.00000"/>
		</inertial>
		<visual>
			<origin rpy="0.00000 0.0000 0.00000" xyz="0.00000 0.00000 0.00000"/>
			<geometry>
				<sphere radius="0.00000"/>
			</geometry>
			<material name="mat_50_0">
				<color rgba="0.71879 0.53909 0.35939 1.00000" />
			</material>
		</visual>
		<collision>
			<origin rpy="0.00000 0.0000 0.00000" xyz="0.00000 0.00000 0.00000"/>
			<geometry>
				<sphere radius="0.00000"/>
			</geometry>
		</collision>
	</link>
	<link name="neck_rz">
		<inertial>
			<origin rpy="0.00000 0.0000 0.00000" xyz="0.00000 0.00000 0.00000"/>
			<mass value="0.00000"/>
			<inertia ixx="0.00000" ixy="0" ixz="0" iyy="0.00000" iyz="0" izz="0.00000"/>
		</inertial>
		<visual>
			<origin rpy="0.00000 0.0000 0.00000" xyz="0.00000 0.00000 0.00000"/>
			<geometry>
				<sphere radius="0.00000"/>
			</geometry>
			<material name="mat_51_0">
				<color rgba="0.71879 0.53909 0.35939 1.00000" />
			</material>
		</visual>
		<collision>
			<origin rpy="0.00000 0.0000 0.00000" xyz="0.00000 0.00000 0.00000"/>
			<geometry>
				<sphere radius="0.00000"/>
			</geometry>
		</collision>
	</link>
	<link name="neck_limb">
		<inertial>
			<origin rpy="0.00000 0.0000 0.00000" xyz="0.00000 0.00000 0.00000"/>
			<mass value="2.00000"/>
			<inertia ixx="0.00260" ixy="0" ixz="0" iyy="0.00362" iyz="0" izz="0.00230"/>
		</inertial>
		<visual>
			<origin rpy="0.00000 0.0000 0.00000" xyz="0.00000 0.00000 0.00000"/>
			<geometry>
				<mesh filename="./././assistive_gym/envs/assets/human/meshes/Neck.obj" scale="1.00000 1.00000 1.00000"/>
			</geometry>
			<material name="mat_52_0">
				<color rgba="0.71879 0.53909 0.35939 1.00000" />
			</material>
		</visual>
		<collision>
			<origin rpy="0.00000 0.0000 0.00000" xyz="0.00000 0.00000 0.00000"/>
			<geometry>
				<mesh filename="./././assistive_gym/envs/assets/human/meshes/Neck.obj" scale="1.00000 1.00000 1.00000"/>
			</geometry>
		</collision>
	</link>
	<link name="head_rx">
		<inertial>
			<origin rpy="0.00000 0.0000 0.00000" xyz="0.00000 0.00000 0.00000"/>
			<mass value="0.00000"/>
			<inertia ixx="0.00000" ixy="0" ixz="0" iyy="0.00000" iyz="0" izz="0.00000"/>
		</inertial>
		<visual>
			<origin rpy="0.00000 0.0000 0.00000" xyz="0.00000 0.00000 0.00000"/>
			<geometry>
				<sphere radius="0.00000"/>
			</geometry>
			<material name="mat_53_0">
				<color rgba="0.71879 0.53909 0.35939 1.00000" />
			</material>
		</visual>
		<collision>
			<origin rpy="0.00000 0.0000 0.00000" xyz="0.00000 0.00000 0.00000"/>
			<geometry>
				<sphere radius="0.00000"/>
			</geometry>
		</collision>
	</link>
	<link name="head_ry">
		<inertial>
			<origin rpy="0.00000 0.0000 0.00000" xyz="0.00000 0.00000 0.00000"/>
			<mass value="0.00000"/>
			<inertia ixx="0.00000" ixy="0" ixz="0" iyy="0.00000" iyz="0" izz="0.00000"/>
		</inertial>
		<visual>
			<origin rpy="0.00000 0.0000 0.00000" xyz="0.00000 0.00000 0.00000"/>
			<geometry>
				<sphere radius="0.00000"/>
			</geometry>
			<material name="mat_54_0">
				<color rgba="0.71879 0.53909 0.35939 1.00000" />
			</material>
		</visual>
		<collision>
			<origin rpy="0.00000 0.0000 0.00000" xyz="0.00000 0.00000 0.00000"/>
			<geometry>
				<sphere radius="0.00000"/>
			</geometry>
		</collision>
	</link>
	<link name="head_rz">
		<inertial>
			<origin rpy="0.00000 0.0000 0.00000" xyz="0.00000 0.00000 0.00000"/>
			<mass value="0.00000"/>
			<inertia ixx="0.00000" ixy="0" ixz="0" iyy="0.00000" iyz="0" izz="0.00000"/>
		</inertial>
		<visual>
			<origin rpy="0.00000 0.0000 0.00000" xyz="0.00000 0.00000 0.00000"/>
			<geometry>
				<sphere radius="0.00000"/>
			</geometry>
			<material name="mat_55_0">
				<color rgba="0.71879 0.53909 0.35939 1.00000" />
			</material>
		</visual>
		<collision>
			<origin rpy="0.00000 0.0000 0.00000" xyz="0.00000 0.00000 0.00000"/>
			<geometry>
				<sphere radius="0.00000"/>
			</geometry>
		</collision>
	</link>
	<link name="head_limb">
		<inertial>
			<origin rpy="0.00000 0.0000 0.00000" xyz="0.00000 0.00000 0.00000"/>
			<mass value="2.00000"/>
			<inertia ixx="0.00985" ixy="0" ixz="0" iyy="0.00811" iyz="0" izz="0.00814"/>
		</inertial>
		<visual>
			<origin rpy="0.00000 0.0000 0.00000" xyz="0.00000 0.00000 0.00000"/>
			<geometry>
				<mesh filename="./././assistive_gym/envs/assets/human/meshes/Head.obj" scale="1.00000 1.00000 1.00000"/>
			</geometry>
			<material name="mat_56_0">
				<color rgba="0.71879 0.53909 0.35939 1.00000" />
			</material>
		</visual>
		<collision>
			<origin rpy="0.00000 0.0000 0.00000" xyz="0.00000 0.00000 0.00000"/>
			<geometry>
				<mesh filename="./././assistive_gym/envs/assets/human/meshes/Head.obj" scale="1.00000 1.00000 1.00000"/>
			</geometry>
		</collision>
	</link>
	<link name="left_clavicle_rx">
		<inertial>
			<origin rpy="0.00000 0.0000 0.00000" xyz="0.00000 0.00000 0.00000"/>
			<mass value="0.00000"/>
			<inertia ixx="0.00000" ixy="0" ixz="0" iyy="0.00000" iyz="0" izz="0.00000"/>
		</inertial>
		<visual>
			<origin rpy="0.00000 0.0000 0.00000" xyz="0.00000 0.00000 0.00000"/>
			<geometry>
				<sphere radius="0.00000"/>
			</geometry>
			<material name="mat_57_0">
				<color rgba="0.71879 0.53909 0.35939 1.00000" />
			</material>
		</visual>
		<collision>
			<origin rpy="0.00000 0.0000 0.00000" xyz="0.00000 0.00000 0.00000"/>
			<geometry>
				<sphere radius="0.00000"/>
			</geometry>
		</collision>
	</link>
	<link name="left_clavicle_ry">
		<inertial>
			<origin rpy="0.00000 0.0000 0.00000" xyz="0.00000 0.00000 0.00000"/>
			<mass value="0.00000"/>
			<inertia ixx="0.00000" ixy="0" ixz="0" iyy="0.00000" iyz="0" izz="0.00000"/>
		</inertial>
		<visual>
			<origin rpy="0.00000 0.0000 0.00000" xyz="0.00000 0.00000 0.00000"/>
			<geometry>
				<sphere radius="0.00000"/>
			</geometry>
			<material name="mat_58_0">
				<color rgba="0.71879 0.53909 0.35939 1.00000" />
			</material>
		</visual>
		<collision>
			<origin rpy="0.00000 0.0000 0.00000" xyz="0.00000 0.00000 0.00000"/>
			<geometry>
				<sphere radius="0.00000"/>
			</geometry>
		</collision>
	</link>
	<link name="left_clavicle_rz">
		<inertial>
			<origin rpy="0.00000 0.0000 0.00000" xyz="0.00000 0.00000 0.00000"/>
			<mass value="0.00000"/>
			<inertia ixx="0.00000" ixy="0" ixz="0" iyy="0.00000" iyz="0" izz="0.00000"/>
		</inertial>
		<visual>
			<origin rpy="0.00000 0.0000 0.00000" xyz="0.00000 0.00000 0.00000"/>
			<geometry>
				<sphere radius="0.00000"/>
			</geometry>
			<material name="mat_59_0">
				<color rgba="0.71879 0.53909 0.35939 1.00000" />
			</material>
		</visual>
		<collision>
			<origin rpy="0.00000 0.0000 0.00000" xyz="0.00000 0.00000 0.00000"/>
			<geometry>
				<sphere radius="0.00000"/>
			</geometry>
		</collision>
	</link>
	<link name="left_clavicle_limb">
		<inertial>
			<origin rpy="0.00000 0.0000 0.00000" xyz="0.00000 0.00000 0.00000"/>
			<mass value="2.00000"/>
			<inertia ixx="0.00000" ixy="0" ixz="0" iyy="0.00000" iyz="0" izz="0.00000"/>
		</inertial>
		<visual>
			<origin rpy="0.00000 0.0000 0.00000" xyz="0.00000 0.00000 0.00000"/>
			<geometry>
				<mesh filename="./././assistive_gym/envs/assets/human/meshes/L_Collar.obj" scale="1.00000 1.00000 1.00000"/>
			</geometry>
			<material name="mat_60_0">
				<color rgba="0.71879 0.53909 0.35939 1.00000" />
			</material>
		</visual>
		<collision>
			<origin rpy="0.00000 0.0000 0.00000" xyz="0.00000 0.00000 0.00000"/>
			<geometry>
				<mesh filename="./././assistive_gym/envs/assets/human/meshes/L_Collar.obj" scale="1.00000 1.00000 1.00000"/>
			</geometry>
		</collision>
	</link>
	<link name="left_shoulder_rx">
		<inertial>
			<origin rpy="0.00000 0.0000 0.00000" xyz="0.00000 0.00000 0.00000"/>
			<mass value="0.00000"/>
			<inertia ixx="0.00000" ixy="0" ixz="0" iyy="0.00000" iyz="0" izz="0.00000"/>
		</inertial>
		<visual>
			<origin rpy="0.00000 0.0000 0.00000" xyz="0.00000 0.00000 0.00000"/>
			<geometry>
				<sphere radius="0.00000"/>
			</geometry>
			<material name="mat_61_0">
				<color rgba="0.71879 0.53909 0.35939 1.00000" />
			</material>
		</visual>
		<collision>
			<origin rpy="0.00000 0.0000 0.00000" xyz="0.00000 0.00000 0.00000"/>
			<geometry>
				<sphere radius="0.00000"/>
			</geometry>
		</collision>
	</link>
	<link name="left_shoulder_ry">
		<inertial>
			<origin rpy="0.00000 0.0000 0.00000" xyz="0.00000 0.00000 0.00000"/>
			<mass value="0.00000"/>
			<inertia ixx="0.00000" ixy="0" ixz="0" iyy="0.00000" iyz="0" izz="0.00000"/>
		</inertial>
		<visual>
			<origin rpy="0.00000 0.0000 0.00000" xyz="0.00000 0.00000 0.00000"/>
			<geometry>
				<sphere radius="0.00000"/>
			</geometry>
			<material name="mat_62_0">
				<color rgba="0.71879 0.53909 0.35939 1.00000" />
			</material>
		</visual>
		<collision>
			<origin rpy="0.00000 0.0000 0.00000" xyz="0.00000 0.00000 0.00000"/>
			<geometry>
				<sphere radius="0.00000"/>
			</geometry>
		</collision>
	</link>
	<link name="left_shoulder_rz">
		<inertial>
			<origin rpy="0.00000 0.0000 0.00000" xyz="0.00000 0.00000 0.00000"/>
			<mass value="0.00000"/>
			<inertia ixx="0.00000" ixy="0" ixz="0" iyy="0.00000" iyz="0" izz="0.00000"/>
		</inertial>
		<visual>
			<origin rpy="0.00000 0.0000 0.00000" xyz="0.00000 0.00000 0.00000"/>
			<geometry>
				<sphere radius="0.00000"/>
			</geometry>
			<material name="mat_63_0">
				<color rgba="0.71879 0.53909 0.35939 1.00000" />
			</material>
		</visual>
		<collision>
			<origin rpy="0.00000 0.0000 0.00000" xyz="0.00000 0.00000 0.00000"/>
			<geometry>
				<sphere radius="0.00000"/>
			</geometry>
		</collision>
	</link>
	<link name="left_shoulder_limb">
		<inertial>
			<origin rpy="0.00000 0.0000 0.00000" xyz="0.00000 0.00000 0.00000"/>
			<mass value="2.00000"/>
			<inertia ixx="0.00327" ixy="0" ixz="0" iyy="0.00641" iyz="0" izz="0.00683"/>
		</inertial>
		<visual>
			<origin rpy="0.00000 0.0000 0.00000" xyz="0.00000 0.00000 0.00000"/>
			<geometry>
				<mesh filename="./././assistive_gym/envs/assets/human/meshes/L_Shoulder.obj" scale="1.00000 1.00000 1.00000"/>
			</geometry>
			<material name="mat_64_0">
				<color rgba="0.71879 0.53909 0.35939 1.00000" />
			</material>
		</visual>
		<collision>
			<origin rpy="0.00000 0.0000 0.00000" xyz="0.00000 0.00000 0.00000"/>
			<geometry>
				<mesh filename="./././assistive_gym/envs/assets/human/meshes/L_Shoulder.obj" scale="1.00000 1.00000 1.00000"/>
			</geometry>
		</collision>
	</link>
	<link name="left_elbow_rx">
		<inertial>
			<origin rpy="0.00000 0.0000 0.00000" xyz="0.00000 0.00000 0.00000"/>
			<mass value="0.00000"/>
			<inertia ixx="0.00000" ixy="0" ixz="0" iyy="0.00000" iyz="0" izz="0.00000"/>
		</inertial>
		<visual>
			<origin rpy="0.00000 0.0000 0.00000" xyz="0.00000 0.00000 0.00000"/>
			<geometry>
				<sphere radius="0.00000"/>
			</geometry>
			<material name="mat_65_0">
				<color rgba="0.71879 0.53909 0.35939 1.00000" />
			</material>
		</visual>
		<collision>
			<origin rpy="0.00000 0.0000 0.00000" xyz="0.00000 0.00000 0.00000"/>
			<geometry>
				<sphere radius="0.00000"/>
			</geometry>
		</collision>
	</link>
	<link name="left_elbow_ry">
		<inertial>
			<origin rpy="0.00000 0.0000 0.00000" xyz="0.00000 0.00000 0.00000"/>
			<mass value="0.00000"/>
			<inertia ixx="0.00000" ixy="0" ixz="0" iyy="0.00000" iyz="0" izz="0.00000"/>
		</inertial>
		<visual>
			<origin rpy="0.00000 0.0000 0.00000" xyz="0.00000 0.00000 0.00000"/>
			<geometry>
				<sphere radius="0.00000"/>
			</geometry>
			<material name="mat_66_0">
				<color rgba="0.71879 0.53909 0.35939 1.00000" />
			</material>
		</visual>
		<collision>
			<origin rpy="0.00000 0.0000 0.00000" xyz="0.00000 0.00000 0.00000"/>
			<geometry>
				<sphere radius="0.00000"/>
			</geometry>
		</collision>
	</link>
	<link name="left_elbow_rz">
		<inertial>
			<origin rpy="0.00000 0.0000 0.00000" xyz="0.00000 0.00000 0.00000"/>
			<mass value="0.00000"/>
			<inertia ixx="0.00000" ixy="0" ixz="0" iyy="0.00000" iyz="0" izz="0.00000"/>
		</inertial>
		<visual>
			<origin rpy="0.00000 0.0000 0.00000" xyz="0.00000 0.00000 0.00000"/>
			<geometry>
				<sphere radius="0.00000"/>
			</geometry>
			<material name="mat_67_0">
				<color rgba="0.71879 0.53909 0.35939 1.00000" />
			</material>
		</visual>
		<collision>
			<origin rpy="0.00000 0.0000 0.00000" xyz="0.00000 0.00000 0.00000"/>
			<geometry>
				<sphere radius="0.00000"/>
			</geometry>
		</collision>
	</link>
	<link name="left_elbow_limb">
		<inertial>
			<origin rpy="0.00000 0.0000 0.00000" xyz="0.00000 0.00000 0.00000"/>
			<mass value="2.00000"/>
			<inertia ixx="0.00164" ixy="0" ixz="0" iyy="0.00733" iyz="0" izz="0.00755"/>
		</inertial>
		<visual>
			<origin rpy="0.00000 0.0000 0.00000" xyz="0.00000 0.00000 0.00000"/>
			<geometry>
				<mesh filename="./././assistive_gym/envs/assets/human/meshes/L_Elbow.obj" scale="1.00000 1.00000 1.00000"/>
			</geometry>
			<material name="mat_68_0">
				<color rgba="0.71879 0.53909 0.35939 1.00000" />
			</material>
		</visual>
		<collision>
			<origin rpy="0.00000 0.0000 0.00000" xyz="0.00000 0.00000 0.00000"/>
			<geometry>
				<mesh filename="./././assistive_gym/envs/assets/human/meshes/L_Elbow.obj" scale="1.00000 1.00000 1.00000"/>
			</geometry>
		</collision>
	</link>
	<link name="left_lowarm_rx">
		<inertial>
			<origin rpy="0.00000 0.0000 0.00000" xyz="0.00000 0.00000 0.00000"/>
			<mass value="0.00000"/>
			<inertia ixx="0.00000" ixy="0" ixz="0" iyy="0.00000" iyz="0" izz="0.00000"/>
		</inertial>
		<visual>
			<origin rpy="0.00000 0.0000 0.00000" xyz="0.00000 0.00000 0.00000"/>
			<geometry>
				<sphere radius="0.00000"/>
			</geometry>
			<material name="mat_69_0">
				<color rgba="0.71879 0.53909 0.35939 1.00000" />
			</material>
		</visual>
		<collision>
			<origin rpy="0.00000 0.0000 0.00000" xyz="0.00000 0.00000 0.00000"/>
			<geometry>
				<sphere radius="0.00000"/>
			</geometry>
		</collision>
	</link>
	<link name="left_lowarm_ry">
		<inertial>
			<origin rpy="0.00000 0.0000 0.00000" xyz="0.00000 0.00000 0.00000"/>
			<mass value="0.00000"/>
			<inertia ixx="0.00000" ixy="0" ixz="0" iyy="0.00000" iyz="0" izz="0.00000"/>
		</inertial>
		<visual>
			<origin rpy="0.00000 0.0000 0.00000" xyz="0.00000 0.00000 0.00000"/>
			<geometry>
				<sphere radius="0.00000"/>
			</geometry>
			<material name="mat_70_0">
				<color rgba="0.71879 0.53909 0.35939 1.00000" />
			</material>
		</visual>
		<collision>
			<origin rpy="0.00000 0.0000 0.00000" xyz="0.00000 0.00000 0.00000"/>
			<geometry>
				<sphere radius="0.00000"/>
			</geometry>
		</collision>
	</link>
	<link name="left_lowarm_rz">
		<inertial>
			<origin rpy="0.00000 0.0000 0.00000" xyz="0.00000 0.00000 0.00000"/>
			<mass value="0.00000"/>
			<inertia ixx="0.00000" ixy="0" ixz="0" iyy="0.00000" iyz="0" izz="0.00000"/>
		</inertial>
		<visual>
			<origin rpy="0.00000 0.0000 0.00000" xyz="0.00000 0.00000 0.00000"/>
			<geometry>
				<sphere radius="0.00000"/>
			</geometry>
			<material name="mat_71_0">
				<color rgba="0.71879 0.53909 0.35939 1.00000" />
			</material>
		</visual>
		<collision>
			<origin rpy="0.00000 0.0000 0.00000" xyz="0.00000 0.00000 0.00000"/>
			<geometry>
				<sphere radius="0.00000"/>
			</geometry>
		</collision>
	</link>
	<link name="left_lowarm_limb">
		<inertial>
			<origin rpy="0.00000 0.0000 0.00000" xyz="0.00000 0.00000 0.00000"/>
			<mass value="2.00000"/>
			<inertia ixx="0.00227" ixy="0" ixz="0" iyy="0.00299" iyz="0" izz="0.00143"/>
		</inertial>
		<visual>
			<origin rpy="0.00000 0.0000 0.00000" xyz="0.00000 0.00000 0.00000"/>
			<geometry>
				<mesh filename="./././assistive_gym/envs/assets/human/meshes/L_Wrist.obj" scale="1.00000 1.00000 1.00000"/>
			</geometry>
			<material name="mat_72_0">
				<color rgba="0.71879 0.53909 0.35939 1.00000" />
			</material>
		</visual>
		<collision>
			<origin rpy="0.00000 0.0000 0.00000" xyz="0.00000 0.00000 0.00000"/>
			<geometry>
				<mesh filename="./././assistive_gym/envs/assets/human/meshes/L_Wrist.obj" scale="1.00000 1.00000 1.00000"/>
			</geometry>
		</collision>
	</link>
	<link name="left_hand_rx">
		<inertial>
			<origin rpy="0.00000 0.0000 0.00000" xyz="0.00000 0.00000 0.00000"/>
			<mass value="0.00000"/>
			<inertia ixx="0.00000" ixy="0" ixz="0" iyy="0.00000" iyz="0" izz="0.00000"/>
		</inertial>
		<visual>
			<origin rpy="0.00000 0.0000 0.00000" xyz="0.00000 0.00000 0.00000"/>
			<geometry>
				<sphere radius="0.00000"/>
			</geometry>
			<material name="mat_73_0">
				<color rgba="0.71879 0.53909 0.35939 1.00000" />
			</material>
		</visual>
		<collision>
			<origin rpy="0.00000 0.0000 0.00000" xyz="0.00000 0.00000 0.00000"/>
			<geometry>
				<sphere radius="0.00000"/>
			</geometry>
		</collision>
	</link>
	<link name="left_hand_ry">
		<inertial>
			<origin rpy="0.00000 0.0000 0.00000" xyz="0.00000 0.00000 0.00000"/>
			<mass value="0.00000"/>
			<inertia ixx="0.00000" ixy="0" ixz="0" iyy="0.00000" iyz="0" izz="0.00000"/>
		</inertial>
		<visual>
			<origin rpy="0.00000 0.0000 0.00000" xyz="0.00000 0.00000 0.00000"/>
			<geometry>
				<sphere radius="0.00000"/>
			</geometry>
			<material name="mat_74_0">
				<color rgba="0.71879 0.53909 0.35939 1.00000" />
			</material>
		</visual>
		<collision>
			<origin rpy="0.00000 0.0000 0.00000" xyz="0.00000 0.00000 0.00000"/>
			<geometry>
				<sphere radius="0.00000"/>
			</geometry>
		</collision>
	</link>
	<link name="left_hand_rz">
		<inertial>
			<origin rpy="0.00000 0.0000 0.00000" xyz="0.00000 0.00000 0.00000"/>
			<mass value="0.00000"/>
			<inertia ixx="0.00000" ixy="0" ixz="0" iyy="0.00000" iyz="0" izz="0.00000"/>
		</inertial>
		<visual>
			<origin rpy="0.00000 0.0000 0.00000" xyz="0.00000 0.00000 0.00000"/>
			<geometry>
				<sphere radius="0.00000"/>
			</geometry>
			<material name="mat_75_0">
				<color rgba="0.71879 0.53909 0.35939 1.00000" />
			</material>
		</visual>
		<collision>
			<origin rpy="0.00000 0.0000 0.00000" xyz="0.00000 0.00000 0.00000"/>
			<geometry>
				<sphere radius="0.00000"/>
			</geometry>
		</collision>
	</link>
	<link name="left_hand_limb">
		<inertial>
			<origin rpy="0.00000 0.0000 0.00000" xyz="0.00000 0.00000 0.00000"/>
			<mass value="2.00000"/>
			<inertia ixx="0.00066" ixy="0" ixz="0" iyy="0.00128" iyz="0" izz="0.00075"/>
		</inertial>
		<visual>
			<origin rpy="0.00000 0.0000 0.00000" xyz="0.00000 0.00000 0.00000"/>
			<geometry>
				<mesh filename="./././assistive_gym/envs/assets/human/meshes/L_Hand.obj" scale="1.00000 1.00000 1.00000"/>
			</geometry>
			<material name="mat_76_0">
				<color rgba="0.71879 0.53909 0.35939 1.00000" />
			</material>
		</visual>
		<collision>
			<origin rpy="0.00000 0.0000 0.00000" xyz="0.00000 0.00000 0.00000"/>
			<geometry>
				<mesh filename="./././assistive_gym/envs/assets/human/meshes/L_Hand.obj" scale="1.00000 1.00000 1.00000"/>
			</geometry>
		</collision>
	</link>
	<link name="right_clavicle_rx">
		<inertial>
			<origin rpy="0.00000 0.0000 0.00000" xyz="0.00000 0.00000 0.00000"/>
			<mass value="0.00000"/>
			<inertia ixx="0.00000" ixy="0" ixz="0" iyy="0.00000" iyz="0" izz="0.00000"/>
		</inertial>
		<visual>
			<origin rpy="0.00000 0.0000 0.00000" xyz="0.00000 0.00000 0.00000"/>
			<geometry>
				<sphere radius="0.00000"/>
			</geometry>
			<material name="mat_77_0">
				<color rgba="0.71879 0.53909 0.35939 1.00000" />
			</material>
		</visual>
		<collision>
			<origin rpy="0.00000 0.0000 0.00000" xyz="0.00000 0.00000 0.00000"/>
			<geometry>
				<sphere radius="0.00000"/>
			</geometry>
		</collision>
	</link>
	<link name="right_clavicle_ry">
		<inertial>
			<origin rpy="0.00000 0.0000 0.00000" xyz="0.00000 0.00000 0.00000"/>
			<mass value="0.00000"/>
			<inertia ixx="0.00000" ixy="0" ixz="0" iyy="0.00000" iyz="0" izz="0.00000"/>
		</inertial>
		<visual>
			<origin rpy="0.00000 0.0000 0.00000" xyz="0.00000 0.00000 0.00000"/>
			<geometry>
				<sphere radius="0.00000"/>
			</geometry>
			<material name="mat_78_0">
				<color rgba="0.71879 0.53909 0.35939 1.00000" />
			</material>
		</visual>
		<collision>
			<origin rpy="0.00000 0.0000 0.00000" xyz="0.00000 0.00000 0.00000"/>
			<geometry>
				<sphere radius="0.00000"/>
			</geometry>
		</collision>
	</link>
	<link name="right_clavicle_rz">
		<inertial>
			<origin rpy="0.00000 0.0000 0.00000" xyz="0.00000 0.00000 0.00000"/>
			<mass value="0.00000"/>
			<inertia ixx="0.00000" ixy="0" ixz="0" iyy="0.00000" iyz="0" izz="0.00000"/>
		</inertial>
		<visual>
			<origin rpy="0.00000 0.0000 0.00000" xyz="0.00000 0.00000 0.00000"/>
			<geometry>
				<sphere radius="0.00000"/>
			</geometry>
			<material name="mat_79_0">
				<color rgba="0.71879 0.53909 0.35939 1.00000" />
			</material>
		</visual>
		<collision>
			<origin rpy="0.00000 0.0000 0.00000" xyz="0.00000 0.00000 0.00000"/>
			<geometry>
				<sphere radius="0.00000"/>
			</geometry>
		</collision>
	</link>
	<link name="right_clavicle_limb">
		<inertial>
			<origin rpy="0.00000 0.0000 0.00000" xyz="0.00000 0.00000 0.00000"/>
			<mass value="2.00000"/>
			<inertia ixx="0.00000" ixy="0" ixz="0" iyy="0.00000" iyz="0" izz="0.00000"/>
		</inertial>
		<visual>
			<origin rpy="0.00000 0.0000 0.00000" xyz="0.00000 0.00000 0.00000"/>
			<geometry>
				<mesh filename="./././assistive_gym/envs/assets/human/meshes/R_Collar.obj" scale="1.00000 1.00000 1.00000"/>
			</geometry>
			<material name="mat_80_0">
				<color rgba="0.71879 0.53909 0.35939 1.00000" />
			</material>
		</visual>
		<collision>
			<origin rpy="0.00000 0.0000 0.00000" xyz="0.00000 0.00000 0.00000"/>
			<geometry>
				<mesh filename="./././assistive_gym/envs/assets/human/meshes/R_Collar.obj" scale="1.00000 1.00000 1.00000"/>
			</geometry>
		</collision>
	</link>
	<link name="right_shoulder_rx">
		<inertial>
			<origin rpy="0.00000 0.0000 0.00000" xyz="0.00000 0.00000 0.00000"/>
			<mass value="0.00000"/>
			<inertia ixx="0.00000" ixy="0" ixz="0" iyy="0.00000" iyz="0" izz="0.00000"/>
		</inertial>
		<visual>
			<origin rpy="0.00000 0.0000 0.00000" xyz="0.00000 0.00000 0.00000"/>
			<geometry>
				<sphere radius="0.00000"/>
			</geometry>
			<material name="mat_81_0">
				<color rgba="0.71879 0.53909 0.35939 1.00000" />
			</material>
		</visual>
		<collision>
			<origin rpy="0.00000 0.0000 0.00000" xyz="0.00000 0.00000 0.00000"/>
			<geometry>
				<sphere radius="0.00000"/>
			</geometry>
		</collision>
	</link>
	<link name="right_shoulder_ry">
		<inertial>
			<origin rpy="0.00000 0.0000 0.00000" xyz="0.00000 0.00000 0.00000"/>
			<mass value="0.00000"/>
			<inertia ixx="0.00000" ixy="0" ixz="0" iyy="0.00000" iyz="0" izz="0.00000"/>
		</inertial>
		<visual>
			<origin rpy="0.00000 0.0000 0.00000" xyz="0.00000 0.00000 0.00000"/>
			<geometry>
				<sphere radius="0.00000"/>
			</geometry>
			<material name="mat_82_0">
				<color rgba="0.71879 0.53909 0.35939 1.00000" />
			</material>
		</visual>
		<collision>
			<origin rpy="0.00000 0.0000 0.00000" xyz="0.00000 0.00000 0.00000"/>
			<geometry>
				<sphere radius="0.00000"/>
			</geometry>
		</collision>
	</link>
	<link name="right_shoulder_rz">
		<inertial>
			<origin rpy="0.00000 0.0000 0.00000" xyz="0.00000 0.00000 0.00000"/>
			<mass value="0.00000"/>
			<inertia ixx="0.00000" ixy="0" ixz="0" iyy="0.00000" iyz="0" izz="0.00000"/>
		</inertial>
		<visual>
			<origin rpy="0.00000 0.0000 0.00000" xyz="0.00000 0.00000 0.00000"/>
			<geometry>
				<sphere radius="0.00000"/>
			</geometry>
			<material name="mat_83_0">
				<color rgba="0.71879 0.53909 0.35939 1.00000" />
			</material>
		</visual>
		<collision>
			<origin rpy="0.00000 0.0000 0.00000" xyz="0.00000 0.00000 0.00000"/>
			<geometry>
				<sphere radius="0.00000"/>
			</geometry>
		</collision>
	</link>
	<link name="right_shoulder_limb">
		<inertial>
			<origin rpy="0.00000 0.0000 0.00000" xyz="0.00000 0.00000 0.00000"/>
			<mass value="2.00000"/>
			<inertia ixx="0.00355" ixy="0" ixz="0" iyy="0.00652" iyz="0" izz="0.00686"/>
		</inertial>
		<visual>
			<origin rpy="0.00000 0.0000 0.00000" xyz="0.00000 0.00000 0.00000"/>
			<geometry>
				<mesh filename="./././assistive_gym/envs/assets/human/meshes/R_Shoulder.obj" scale="1.00000 1.00000 1.00000"/>
			</geometry>
			<material name="mat_84_0">
				<color rgba="0.71879 0.53909 0.35939 1.00000" />
			</material>
		</visual>
		<collision>
			<origin rpy="0.00000 0.0000 0.00000" xyz="0.00000 0.00000 0.00000"/>
			<geometry>
				<mesh filename="./././assistive_gym/envs/assets/human/meshes/R_Shoulder.obj" scale="1.00000 1.00000 1.00000"/>
			</geometry>
		</collision>
	</link>
	<link name="right_elbow_rx">
		<inertial>
			<origin rpy="0.00000 0.0000 0.00000" xyz="0.00000 0.00000 0.00000"/>
			<mass value="0.00000"/>
			<inertia ixx="0.00000" ixy="0" ixz="0" iyy="0.00000" iyz="0" izz="0.00000"/>
		</inertial>
		<visual>
			<origin rpy="0.00000 0.0000 0.00000" xyz="0.00000 0.00000 0.00000"/>
			<geometry>
				<sphere radius="0.00000"/>
			</geometry>
			<material name="mat_85_0">
				<color rgba="0.71879 0.53909 0.35939 1.00000" />
			</material>
		</visual>
		<collision>
			<origin rpy="0.00000 0.0000 0.00000" xyz="0.00000 0.00000 0.00000"/>
			<geometry>
				<sphere radius="0.00000"/>
			</geometry>
		</collision>
	</link>
	<link name="right_elbow_ry">
		<inertial>
			<origin rpy="0.00000 0.0000 0.00000" xyz="0.00000 0.00000 0.00000"/>
			<mass value="0.00000"/>
			<inertia ixx="0.00000" ixy="0" ixz="0" iyy="0.00000" iyz="0" izz="0.00000"/>
		</inertial>
		<visual>
			<origin rpy="0.00000 0.0000 0.00000" xyz="0.00000 0.00000 0.00000"/>
			<geometry>
				<sphere radius="0.00000"/>
			</geometry>
			<material name="mat_86_0">
				<color rgba="0.71879 0.53909 0.35939 1.00000" />
			</material>
		</visual>
		<collision>
			<origin rpy="0.00000 0.0000 0.00000" xyz="0.00000 0.00000 0.00000"/>
			<geometry>
				<sphere radius="0.00000"/>
			</geometry>
		</collision>
	</link>
	<link name="right_elbow_rz">
		<inertial>
			<origin rpy="0.00000 0.0000 0.00000" xyz="0.00000 0.00000 0.00000"/>
			<mass value="0.00000"/>
			<inertia ixx="0.00000" ixy="0" ixz="0" iyy="0.00000" iyz="0" izz="0.00000"/>
		</inertial>
		<visual>
			<origin rpy="0.00000 0.0000 0.00000" xyz="0.00000 0.00000 0.00000"/>
			<geometry>
				<sphere radius="0.00000"/>
			</geometry>
			<material name="mat_87_0">
				<color rgba="0.71879 0.53909 0.35939 1.00000" />
			</material>
		</visual>
		<collision>
			<origin rpy="0.00000 0.0000 0.00000" xyz="0.00000 0.00000 0.00000"/>
			<geometry>
				<sphere radius="0.00000"/>
			</geometry>
		</collision>
	</link>
	<link name="right_elbow_limb">
		<inertial>
			<origin rpy="0.00000 0.0000 0.00000" xyz="0.00000 0.00000 0.00000"/>
			<mass value="2.00000"/>
			<inertia ixx="0.00170" ixy="0" ixz="0" iyy="0.00717" iyz="0" izz="0.00735"/>
		</inertial>
		<visual>
			<origin rpy="0.00000 0.0000 0.00000" xyz="0.00000 0.00000 0.00000"/>
			<geometry>
				<mesh filename="./././assistive_gym/envs/assets/human/meshes/R_Elbow.obj" scale="1.00000 1.00000 1.00000"/>
			</geometry>
			<material name="mat_88_0">
				<color rgba="0.71879 0.53909 0.35939 1.00000" />
			</material>
		</visual>
		<collision>
			<origin rpy="0.00000 0.0000 0.00000" xyz="0.00000 0.00000 0.00000"/>
			<geometry>
				<mesh filename="./././assistive_gym/envs/assets/human/meshes/R_Elbow.obj" scale="1.00000 1.00000 1.00000"/>
			</geometry>
		</collision>
	</link>
	<link name="right_lowarm_rx">
		<inertial>
			<origin rpy="0.00000 0.0000 0.00000" xyz="0.00000 0.00000 0.00000"/>
			<mass value="0.00000"/>
			<inertia ixx="0.00000" ixy="0" ixz="0" iyy="0.00000" iyz="0" izz="0.00000"/>
		</inertial>
		<visual>
			<origin rpy="0.00000 0.0000 0.00000" xyz="0.00000 0.00000 0.00000"/>
			<geometry>
				<sphere radius="0.00000"/>
			</geometry>
			<material name="mat_89_0">
				<color rgba="0.71879 0.53909 0.35939 1.00000" />
			</material>
		</visual>
		<collision>
			<origin rpy="0.00000 0.0000 0.00000" xyz="0.00000 0.00000 0.00000"/>
			<geometry>
				<sphere radius="0.00000"/>
			</geometry>
		</collision>
	</link>
	<link name="right_lowarm_ry">
		<inertial>
			<origin rpy="0.00000 0.0000 0.00000" xyz="0.00000 0.00000 0.00000"/>
			<mass value="0.00000"/>
			<inertia ixx="0.00000" ixy="0" ixz="0" iyy="0.00000" iyz="0" izz="0.00000"/>
		</inertial>
		<visual>
			<origin rpy="0.00000 0.0000 0.00000" xyz="0.00000 0.00000 0.00000"/>
			<geometry>
				<sphere radius="0.00000"/>
			</geometry>
			<material name="mat_90_0">
				<color rgba="0.71879 0.53909 0.35939 1.00000" />
			</material>
		</visual>
		<collision>
			<origin rpy="0.00000 0.0000 0.00000" xyz="0.00000 0.00000 0.00000"/>
			<geometry>
				<sphere radius="0.00000"/>
			</geometry>
		</collision>
	</link>
	<link name="right_lowarm_rz">
		<inertial>
			<origin rpy="0.00000 0.0000 0.00000" xyz="0.00000 0.00000 0.00000"/>
			<mass value="0.00000"/>
			<inertia ixx="0.00000" ixy="0" ixz="0" iyy="0.00000" iyz="0" izz="0.00000"/>
		</inertial>
		<visual>
			<origin rpy="0.00000 0.0000 0.00000" xyz="0.00000 0.00000 0.00000"/>
			<geometry>
				<sphere radius="0.00000"/>
			</geometry>
			<material name="mat_91_0">
				<color rgba="0.71879 0.53909 0.35939 1.00000" />
			</material>
		</visual>
		<collision>
			<origin rpy="0.00000 0.0000 0.00000" xyz="0.00000 0.00000 0.00000"/>
			<geometry>
				<sphere radius="0.00000"/>
			</geometry>
		</collision>
	</link>
	<link name="right_lowarm_limb">
		<inertial>
			<origin rpy="0.00000 0.0000 0.00000" xyz="0.00000 0.00000 0.00000"/>
			<mass value="2.00000"/>
			<inertia ixx="0.00236" ixy="0" ixz="0" iyy="0.00304" iyz="0" izz="0.00140"/>
		</inertial>
		<visual>
			<origin rpy="0.00000 0.0000 0.00000" xyz="0.00000 0.00000 0.00000"/>
			<geometry>
				<mesh filename="./././assistive_gym/envs/assets/human/meshes/R_Wrist.obj" scale="1.00000 1.00000 1.00000"/>
			</geometry>
			<material name="mat_92_0">
				<color rgba="0.71879 0.53909 0.35939 1.00000" />
			</material>
		</visual>
		<collision>
			<origin rpy="0.00000 0.0000 0.00000" xyz="0.00000 0.00000 0.00000"/>
			<geometry>
				<mesh filename="./././assistive_gym/envs/assets/human/meshes/R_Wrist.obj" scale="1.00000 1.00000 1.00000"/>
			</geometry>
		</collision>
	</link>
	<link name="right_hand_rx">
		<inertial>
			<origin rpy="0.00000 0.0000 0.00000" xyz="0.00000 0.00000 0.00000"/>
			<mass value="0.00000"/>
			<inertia ixx="0.00000" ixy="0" ixz="0" iyy="0.00000" iyz="0" izz="0.00000"/>
		</inertial>
		<visual>
			<origin rpy="0.00000 0.0000 0.00000" xyz="0.00000 0.00000 0.00000"/>
			<geometry>
				<sphere radius="0.00000"/>
			</geometry>
			<material name="mat_93_0">
				<color rgba="0.71879 0.53909 0.35939 1.00000" />
			</material>
		</visual>
		<collision>
			<origin rpy="0.00000 0.0000 0.00000" xyz="0.00000 0.00000 0.00000"/>
			<geometry>
				<sphere radius="0.00000"/>
			</geometry>
		</collision>
	</link>
	<link name="right_hand_ry">
		<inertial>
			<origin rpy="0.00000 0.0000 0.00000" xyz="0.00000 0.00000 0.00000"/>
			<mass value="0.00000"/>
			<inertia ixx="0.00000" ixy="0" ixz="0" iyy="0.00000" iyz="0" izz="0.00000"/>
		</inertial>
		<visual>
			<origin rpy="0.00000 0.0000 0.00000" xyz="0.00000 0.00000 0.00000"/>
			<geometry>
				<sphere radius="0.00000"/>
			</geometry>
			<material name="mat_94_0">
				<color rgba="0.71879 0.53909 0.35939 1.00000" />
			</material>
		</visual>
		<collision>
			<origin rpy="0.00000 0.0000 0.00000" xyz="0.00000 0.00000 0.00000"/>
			<geometry>
				<sphere radius="0.00000"/>
			</geometry>
		</collision>
	</link>
	<link name="right_hand_rz">
		<inertial>
			<origin rpy="0.00000 0.0000 0.00000" xyz="0.00000 0.00000 0.00000"/>
			<mass value="0.00000"/>
			<inertia ixx="0.00000" ixy="0" ixz="0" iyy="0.00000" iyz="0" izz="0.00000"/>
		</inertial>
		<visual>
			<origin rpy="0.00000 0.0000 0.00000" xyz="0.00000 0.00000 0.00000"/>
			<geometry>
				<sphere radius="0.00000"/>
			</geometry>
			<material name="mat_95_0">
				<color rgba="0.71879 0.53909 0.35939 1.00000" />
			</material>
		</visual>
		<collision>
			<origin rpy="0.00000 0.0000 0.00000" xyz="0.00000 0.00000 0.00000"/>
			<geometry>
				<sphere radius="0.00000"/>
			</geometry>
		</collision>
	</link>
	<link name="right_hand_limb">
		<inertial>
			<origin rpy="0.00000 0.0000 0.00000" xyz="0.00000 0.00000 0.00000"/>
			<mass value="2.00000"/>
			<inertia ixx="0.00068" ixy="0" ixz="0" iyy="0.00127" iyz="0" izz="0.00072"/>
		</inertial>
		<visual>
			<origin rpy="0.00000 0.0000 0.00000" xyz="0.00000 0.00000 0.00000"/>
			<geometry>
				<mesh filename="./././assistive_gym/envs/assets/human/meshes/R_Hand.obj" scale="1.00000 1.00000 1.00000"/>
			</geometry>
			<material name="mat_96_0">
				<color rgba="0.71879 0.53909 0.35939 1.00000" />
			</material>
		</visual>
		<collision>
			<origin rpy="0.00000 0.0000 0.00000" xyz="0.00000 0.00000 0.00000"/>
			<geometry>
				<mesh filename="./././assistive_gym/envs/assets/human/meshes/R_Hand.obj" scale="1.00000 1.00000 1.00000"/>
			</geometry>
		</collision>
	</link>
	<joint name="pelvis" type="fixed">
		<parent link="base"/>
		<child link="pelvis_limb"/>
		<dynamics damping="1.0" friction="0.0001"/>
		<origin rpy="0.00000 0.0000 0.00000" xyz="0.00000 0.00000 0.00000"/>
		<axis xyz="0.00000 0.00000 0.00000"/>
	</joint>
	<joint name="left_hip_rx" type="revolute">
		<parent link="pelvis_limb"/>
		<child link="left_hip_rx"/>
		<limit effort="1000.00000" lower="-3.14" upper="3.14" velocity="0.00000"/>
		<dynamics damping="1.0" friction="0.0001"/>
		<origin rpy="0.00000 0.0000 0.00000" xyz="0.05858 -0.08228 -0.01766"/>
		<axis xyz="1.00000 0.00000 0.00000"/>
	</joint>
	<joint name="left_hip_ry" type="revolute">
		<parent link="left_hip_rx"/>
		<child link="left_hip_ry"/>
		<limit effort="1000.00000" lower="-3.14" upper="3.14" velocity="0.00000"/>
		<dynamics damping="1.0" friction="0.0001"/>
		<origin rpy="0.00000 0.0000 0.00000" xyz="0.00000 0.00000 0.00000"/>
		<axis xyz="0.00000 1.00000 0.00000"/>
	</joint>
	<joint name="left_hip_rz" type="revolute">
		<parent link="left_hip_ry"/>
		<child link="left_hip_rz"/>
		<limit effort="1000.00000" lower="-3.14" upper="3.14" velocity="0.00000"/>
		<dynamics damping="1.0" friction="0.0001"/>
		<origin rpy="0.00000 0.0000 0.00000" xyz="0.00000 0.00000 0.00000"/>
		<axis xyz="0.00000 0.00000 1.00000"/>
	</joint>
	<joint name="left_hip_rzdammy" type="fixed">
		<parent link="left_hip_rz"/>
		<child link="left_hip_limb"/>
		<origin rpy="0.00000 0.0000 0.00000" xyz="0.00000 0.00000 0.00000"/>
	</joint>
	<joint name="left_knee_rx" type="revolute">
		<parent link="left_hip_limb"/>
		<child link="left_knee_rx"/>
		<limit effort="1000.00000" lower="-3.14" upper="3.14" velocity="0.00000"/>
		<dynamics damping="1.0" friction="0.0001"/>
		<origin rpy="0.00000 0.0000 0.00000" xyz="0.04345 -0.38647 0.00804"/>
		<axis xyz="1.00000 0.00000 0.00000"/>
	</joint>
	<joint name="left_knee_ry" type="revolute">
		<parent link="left_knee_rx"/>
		<child link="left_knee_ry"/>
		<limit effort="1000.00000" lower="-3.14" upper="3.14" velocity="0.00000"/>
		<dynamics damping="1.0" friction="0.0001"/>
		<origin rpy="0.00000 0.0000 0.00000" xyz="0.00000 0.00000 0.00000"/>
		<axis xyz="0.00000 1.00000 0.00000"/>
	</joint>
	<joint name="left_knee_rz" type="revolute">
		<parent link="left_knee_ry"/>
		<child link="left_knee_rz"/>
		<limit effort="1000.00000" lower="-3.14" upper="3.14" velocity="0.00000"/>
		<dynamics damping="1.0" friction="0.0001"/>
		<origin rpy="0.00000 0.0000 0.00000" xyz="0.00000 0.00000 0.00000"/>
		<axis xyz="0.00000 0.00000 1.00000"/>
	</joint>
	<joint name="left_knee_rzdammy" type="fixed">
		<parent link="left_knee_rz"/>
		<child link="left_knee_limb"/>
		<dynamics damping="1.0" friction="0.0001"/>
		<origin rpy="0.00000 0.0000 0.00000" xyz="0.00000 0.00000 0.00000"/>
		<axis xyz="0.00000 0.00000 0.00000"/>
	</joint>
	<joint name="left_ankle_rx" type="revolute">
		<parent link="left_knee_limb"/>
		<child link="left_ankle_rx"/>
		<limit effort="1000.00000" lower="-3.14" upper="3.14" velocity="0.00000"/>
		<dynamics damping="1.0" friction="0.0001"/>
		<origin rpy="0.00000 0.0000 0.00000" xyz="-0.01479 -0.42687 -0.03743"/>
		<axis xyz="1.00000 0.00000 0.00000"/>
	</joint>
	<joint name="left_ankle_ry" type="revolute">
		<parent link="left_ankle_rx"/>
		<child link="left_ankle_ry"/>
		<limit effort="1000.00000" lower="-3.14" upper="3.14" velocity="0.00000"/>
		<dynamics damping="1.0" friction="0.0001"/>
		<origin rpy="0.00000 0.0000 0.00000" xyz="0.00000 0.00000 0.00000"/>
		<axis xyz="0.00000 1.00000 0.00000"/>
	</joint>
	<joint name="left_ankle_rz" type="revolute">
		<parent link="left_ankle_ry"/>
		<child link="left_ankle_rz"/>
		<limit effort="1000.00000" lower="-3.14" upper="3.14" velocity="0.00000"/>
		<dynamics damping="1.0" friction="0.0001"/>
		<origin rpy="0.00000 0.0000 0.00000" xyz="0.00000 0.00000 0.00000"/>
		<axis xyz="0.00000 0.00000 1.00000"/>
	</joint>
	<joint name="left_ankle_rzdammy" type="fixed">
		<parent link="left_ankle_rz"/>
		<child link="left_ankle_limb"/>
		<origin rpy="0.00000 0.0000 0.00000" xyz="0.00000 0.00000 0.00000"/>
	</joint>
	<joint name="left_foot_rx" type="revolute">
		<parent link="left_ankle_limb"/>
		<child link="left_foot_rx"/>
		<limit effort="1000.00000" lower="-3.14" upper="3.14" velocity="0.00000"/>
		<dynamics damping="1.0" friction="0.0001"/>
		<origin rpy="0.00000 0.0000 0.00000" xyz="0.04105 -0.06029 0.12204"/>
		<axis xyz="1.00000 0.00000 0.00000"/>
	</joint>
	<joint name="left_foot_ry" type="revolute">
		<parent link="left_foot_rx"/>
		<child link="left_foot_ry"/>
		<limit effort="1000.00000" lower="-3.14" upper="3.14" velocity="0.00000"/>
		<dynamics damping="1.0" friction="0.0001"/>
		<origin rpy="0.00000 0.0000 0.00000" xyz="0.00000 0.00000 0.00000"/>
		<axis xyz="0.00000 1.00000 0.00000"/>
	</joint>
	<joint name="left_foot_rz" type="revolute">
		<parent link="left_foot_ry"/>
		<child link="left_foot_rz"/>
		<limit effort="0.00000" lower="-3.14" upper="3.14" velocity="0.00000"/>
		<dynamics damping="1.0" friction="0.0001"/>
		<origin rpy="0.00000 0.0000 0.00000" xyz="0.00000 0.00000 0.00000"/>
		<axis xyz="0.00000 0.00000 1.00000"/>
	</joint>
	<joint name="left_foot_rzdammy" type="fixed">
		<parent link="left_foot_rz"/>
		<child link="left_foot_limb"/>
		<origin rpy="0.00000 0.0000 0.00000" xyz="0.00000 0.00000 0.00000"/>
	</joint>
	<joint name="right_hip_rx" type="revolute">
		<parent link="pelvis_limb"/>
		<child link="right_hip_rx"/>
		<limit effort="1000.00000" lower="-3.14" upper="3.14" velocity="0.00000"/>
		<dynamics damping="1.0" friction="0.0001"/>
		<origin rpy="0.00000 0.0000 0.00000" xyz="-0.06031 -0.09051 -0.01354"/>
		<axis xyz="1.00000 0.00000 0.00000"/>
	</joint>
	<joint name="right_hip_ry" type="revolute">
		<parent link="right_hip_rx"/>
		<child link="right_hip_ry"/>
		<limit effort="1000.00000" lower="-3.14" upper="3.14" velocity="0.00000"/>
		<dynamics damping="1.0" friction="0.0001"/>
		<origin rpy="0.00000 0.0000 0.00000" xyz="0.00000 0.00000 0.00000"/>
		<axis xyz="0.00000 1.00000 0.00000"/>
	</joint>
	<joint name="right_hip_rz" type="revolute">
		<parent link="right_hip_ry"/>
		<child link="right_hip_rz"/>
		<limit effort="1000.00000" lower="-3.14" upper="3.14" velocity="0.00000"/>
		<dynamics damping="1.0" friction="0.0001"/>
		<origin rpy="0.00000 0.0000 0.00000" xyz="0.00000 0.00000 0.00000"/>
		<axis xyz="0.00000 0.00000 1.00000"/>
	</joint>
	<joint name="right_hip_rzdammy" type="fixed">
		<parent link="right_hip_rz"/>
		<child link="right_hip_limb"/>
		<origin rpy="0.00000 0.0000 0.00000" xyz="0.00000 0.00000 0.00000"/>
	</joint>
	<joint name="right_knee_rx" type="revolute">
		<parent link="right_hip_limb"/>
		<child link="right_knee_rx"/>
		<limit effort="1000.00000" lower="-3.14" upper="3.14" velocity="0.00000"/>
		<dynamics damping="1.0" friction="0.0001"/>
		<origin rpy="0.00000 0.0000 0.00000" xyz="-0.04326 -0.38369 -0.00484"/>
		<axis xyz="1.00000 0.00000 0.00000"/>
	</joint>
	<joint name="right_knee_ry" type="revolute">
		<parent link="right_knee_rx"/>
		<child link="right_knee_ry"/>
		<limit effort="1000.00000" lower="-3.14" upper="3.14" velocity="0.00000"/>
		<dynamics damping="1.0" friction="0.0001"/>
		<origin rpy="0.00000 0.0000 0.00000" xyz="0.00000 0.00000 0.00000"/>
		<axis xyz="0.00000 1.00000 0.00000"/>
	</joint>
	<joint name="right_knee_rz" type="revolute">
		<parent link="right_knee_ry"/>
		<child link="right_knee_rz"/>
		<limit effort="1000.00000" lower="-3.14" upper="3.14" velocity="0.00000"/>
		<dynamics damping="1.0" friction="0.0001"/>
		<origin rpy="0.00000 0.0000 0.00000" xyz="0.00000 0.00000 0.00000"/>
		<axis xyz="0.00000 0.00000 1.00000"/>
	</joint>
	<joint name="right_knee_rzdammy" type="fixed">
		<parent link="right_knee_rz"/>
		<child link="right_knee_limb"/>
		<origin rpy="0.00000 0.0000 0.00000" xyz="0.00000 0.00000 0.00000"/>
	</joint>
	<joint name="right_ankle_rx" type="revolute">
		<parent link="right_knee_limb"/>
		<child link="right_ankle_rx"/>
		<limit effort="1000.00000" lower="-3.14" upper="3.14" velocity="0.00000"/>
		<dynamics damping="1.0" friction="0.0001"/>
		<origin rpy="0.00000 0.0000 0.00000" xyz="0.01906 -0.42005 -0.03456"/>
		<axis xyz="1.00000 0.00000 0.00000"/>
	</joint>
	<joint name="right_ankle_ry" type="revolute">
		<parent link="right_ankle_rx"/>
		<child link="right_ankle_ry"/>
		<limit effort="1000.00000" lower="-3.14" upper="3.14" velocity="0.00000"/>
		<dynamics damping="1.0" friction="0.0001"/>
		<origin rpy="0.00000 0.0000 0.00000" xyz="0.00000 0.00000 0.00000"/>
		<axis xyz="0.00000 1.00000 0.00000"/>
	</joint>
	<joint name="right_ankle_rz" type="revolute">
		<parent link="right_ankle_ry"/>
		<child link="right_ankle_rz"/>
		<limit effort="1000.00000" lower="-3.14" upper="3.14" velocity="0.00000"/>
		<dynamics damping="1.0" friction="0.0001"/>
		<origin rpy="0.00000 0.0000 0.00000" xyz="0.00000 0.00000 0.00000"/>
		<axis xyz="0.00000 0.00000 1.00000"/>
	</joint>
	<joint name="right_ankle_rzdammy" type="fixed">
		<parent link="right_ankle_rz"/>
		<child link="right_ankle_limb"/>
		<origin rpy="0.00000 0.0000 0.00000" xyz="0.00000 0.00000 0.00000"/>
	</joint>
	<joint name="right_foot_rx" type="revolute">
		<parent link="right_ankle_limb"/>
		<child link="right_foot_rx"/>
		<limit effort="1000.00000" lower="-3.14" upper="3.14" velocity="0.00000"/>
		<dynamics damping="1.0" friction="0.0001"/>
		<origin rpy="0.00000 0.0000 0.00000" xyz="-0.03484 -0.06211 0.13032"/>
		<axis xyz="1.00000 0.00000 0.00000"/>
	</joint>
	<joint name="right_foot_ry" type="revolute">
		<parent link="right_foot_rx"/>
		<child link="right_foot_ry"/>
		<limit effort="1000.00000" lower="-3.14" upper="3.14" velocity="0.00000"/>
		<dynamics damping="1.0" friction="0.0001"/>
		<origin rpy="0.00000 0.0000 0.00000" xyz="0.00000 0.00000 0.00000"/>
		<axis xyz="0.00000 1.00000 0.00000"/>
	</joint>
	<joint name="right_foot_rz" type="revolute">
		<parent link="right_foot_ry"/>
		<child link="right_foot_rz"/>
		<limit effort="1000.00000" lower="-3.14" upper="3.14" velocity="0.00000"/>
		<dynamics damping="1.0" friction="0.0001"/>
		<origin rpy="0.00000 0.0000 0.00000" xyz="0.00000 0.00000 0.00000"/>
		<axis xyz="0.00000 0.00000 1.00000"/>
	</joint>
	<joint name="right_foot_rzdammy" type="fixed">
		<parent link="right_foot_rz"/>
		<child link="right_foot_limb"/>
		<origin rpy="0.00000 0.0000 0.00000" xyz="0.00000 0.00000 0.00000"/>
	</joint>
	<joint name="spine_2_rx" type="revolute">
		<parent link="pelvis_limb"/>
		<child link="spine_2_rx"/>
		<limit effort="1000.00000" lower="-3.14" upper="3.14" velocity="0.00000"/>
		<dynamics damping="1.0" friction="0.0001"/>
		<origin rpy="0.00000 0.0000 0.00000" xyz="0.00444 0.12440 -0.03839"/>
		<axis xyz="1.00000 0.00000 0.00000"/>
	</joint>
	<joint name="spine_2_ry" type="revolute">
		<parent link="spine_2_rx"/>
		<child link="spine_2_ry"/>
		<limit effort="1000.00000" lower="-3.14" upper="3.14" velocity="0.00000"/>
		<dynamics damping="1.0" friction="0.0001"/>
		<origin rpy="0.00000 0.0000 0.00000" xyz="0.00000 0.00000 0.00000"/>
		<axis xyz="0.00000 1.00000 0.00000"/>
	</joint>
	<joint name="spine_2_rz" type="revolute">
		<parent link="spine_2_ry"/>
		<child link="spine_2_rz"/>
		<limit effort="1000.00000" lower="-3.14" upper="3.14" velocity="0.00000"/>
		<dynamics damping="1.0" friction="0.0001"/>
		<origin rpy="0.00000 0.0000 0.00000" xyz="0.00000 0.00000 0.00000"/>
		<axis xyz="0.00000 0.00000 1.00000"/>
	</joint>
	<joint name="spine_2_rzdammy" type="fixed">
		<parent link="spine_2_rz"/>
		<child link="spine_2_limb"/>
		<origin rpy="0.00000 0.0000 0.00000" xyz="0.00000 0.00000 0.00000"/>
	</joint>
	<joint name="spine_3_rx" type="revolute">
		<parent link="spine_2_limb"/>
		<child link="spine_3_rx"/>
		<limit effort="1000.00000" lower="-3.14" upper="3.14" velocity="0.00000"/>
		<dynamics damping="1.0" friction="0.0001"/>
		<origin rpy="0.00000 0.0000 0.00000" xyz="0.00449 0.13796 0.02682"/>
		<axis xyz="1.00000 0.00000 0.00000"/>
	</joint>
	<joint name="spine_3_ry" type="revolute">
		<parent link="spine_3_rx"/>
		<child link="spine_3_ry"/>
		<limit effort="1000.00000" lower="-3.14" upper="3.14" velocity="0.00000"/>
		<dynamics damping="1.0" friction="0.0001"/>
		<origin rpy="0.00000 0.0000 0.00000" xyz="0.00000 0.00000 0.00000"/>
		<axis xyz="0.00000 1.00000 0.00000"/>
	</joint>
	<joint name="spine_3_rz" type="revolute">
		<parent link="spine_3_ry"/>
		<child link="spine_3_rz"/>
		<limit effort="1000.00000" lower="-3.14" upper="3.14" velocity="0.00000"/>
		<dynamics damping="1.0" friction="0.0001"/>
		<origin rpy="0.00000 0.0000 0.00000" xyz="0.00000 0.00000 0.00000"/>
		<axis xyz="0.00000 0.00000 1.00000"/>
	</joint>
	<joint name="spine_3_rzdammy" type="fixed">
		<parent link="spine_3_rz"/>
		<child link="spine_3_limb"/>
		<origin rpy="0.00000 0.0000 0.00000" xyz="0.00000 0.00000 0.00000"/>
	</joint>
	<joint name="spine_4_rx" type="revolute">
		<parent link="spine_3_limb"/>
		<child link="spine_4_rx"/>
		<limit effort="1000.00000" lower="-3.14" upper="3.14" velocity="0.00000"/>
		<dynamics damping="1.0" friction="0.0001"/>
		<origin rpy="0.00000 0.0000 0.00000" xyz="-0.00226 0.05603 0.00286"/>
		<axis xyz="1.00000 0.00000 0.00000"/>
	</joint>
	<joint name="spine_4_ry" type="revolute">
		<parent link="spine_4_rx"/>
		<child link="spine_4_ry"/>
		<limit effort="1000.00000" lower="-3.14" upper="3.14" velocity="0.00000"/>
		<dynamics damping="1.0" friction="0.0001"/>
		<origin rpy="0.00000 0.0000 0.00000" xyz="0.00000 0.00000 0.00000"/>
		<axis xyz="0.00000 1.00000 0.00000"/>
	</joint>
	<joint name="spine_4_rz" type="revolute">
		<parent link="spine_4_ry"/>
		<child link="spine_4_rz"/>
		<limit effort="1000.00000" lower="-3.14" upper="3.14" velocity="0.00000"/>
		<dynamics damping="1.0" friction="0.0001"/>
		<origin rpy="0.00000 0.0000 0.00000" xyz="0.00000 0.00000 0.00000"/>
		<axis xyz="0.00000 0.00000 1.00000"/>
	</joint>
	<joint name="spine_4_rzdammy" type="fixed">
		<parent link="spine_4_rz"/>
		<child link="spine_4_limb"/>
		<origin rpy="0.00000 0.0000 0.00000" xyz="0.00000 0.00000 0.00000"/>
	</joint>
	<joint name="neck_rx" type="revolute">
		<parent link="spine_4_limb"/>
		<child link="neck_rx"/>
		<limit effort="1000.00000" lower="-3.14" upper="3.14" velocity="0.00000"/>
		<dynamics damping="1.0" friction="0.0001"/>
		<origin rpy="0.00000 0.0000 0.00000" xyz="-0.01339 0.21164 -0.03347"/>
		<axis xyz="1.00000 0.00000 0.00000"/>
	</joint>
	<joint name="neck_ry" type="revolute">
		<parent link="neck_rx"/>
		<child link="neck_ry"/>
		<limit effort="1000.00000" lower="-3.14" upper="3.14" velocity="0.00000"/>
		<dynamics damping="1.0" friction="0.0001"/>
		<origin rpy="0.00000 0.0000 0.00000" xyz="0.00000 0.00000 0.00000"/>
		<axis xyz="0.00000 1.00000 0.00000"/>
	</joint>
	<joint name="neck_rz" type="revolute">
		<parent link="neck_ry"/>
		<child link="neck_rz"/>
		<limit effort="1000.00000" lower="-3.14" upper="3.14" velocity="0.00000"/>
		<dynamics damping="1.0" friction="0.0001"/>
		<origin rpy="0.00000 0.0000 0.00000" xyz="0.00000 0.00000 0.00000"/>
		<axis xyz="0.00000 0.00000 1.00000"/>
	</joint>
	<joint name="neck_rzdammy" type="fixed">
		<parent link="neck_rz"/>
		<child link="neck_limb"/>
		<origin rpy="0.00000 0.0000 0.00000" xyz="0.00000 0.00000 0.00000"/>
	</joint>
	<joint name="head_rx" type="revolute">
		<parent link="neck_limb"/>
		<child link="head_rx"/>
		<limit effort="1000.00000" lower="-3.14" upper="3.14" velocity="0.00000"/>
		<dynamics damping="1.0" friction="0.0001"/>
		<origin rpy="0.00000 0.0000 0.00000" xyz="0.01011 0.08894 0.05041"/>
		<axis xyz="1.00000 0.00000 0.00000"/>
	</joint>
	<joint name="head_ry" type="revolute">
		<parent link="head_rx"/>
		<child link="head_ry"/>
		<limit effort="1000.00000" lower="-3.14" upper="3.14" velocity="0.00000"/>
		<dynamics damping="1.0" friction="0.0001"/>
		<origin rpy="0.00000 0.0000 0.00000" xyz="0.00000 0.00000 0.00000"/>
		<axis xyz="0.00000 1.00000 0.00000"/>
	</joint>
	<joint name="head_rz" type="revolute">
		<parent link="head_ry"/>
		<child link="head_rz"/>
		<limit effort="1000.00000" lower="-3.14" upper="3.14" velocity="0.00000"/>
		<dynamics damping="1.0" friction="0.0001"/>
		<origin rpy="0.00000 0.0000 0.00000" xyz="0.00000 0.00000 0.00000"/>
		<axis xyz="0.00000 0.00000 1.00000"/>
	</joint>
	<joint name="head_rzdammy" type="fixed">
		<parent link="head_rz"/>
		<child link="head_limb"/>
		<origin rpy="0.00000 0.0000 0.00000" xyz="0.00000 0.00000 0.00000"/>
	</joint>
	<joint name="left_clavicle_rx" type="revolute">
		<parent link="spine_4_limb"/>
		<child link="left_clavicle_rx"/>
		<limit effort="1000.00000" lower="-3.14" upper="3.14" velocity="0.00000"/>
		<dynamics damping="1.0" friction="0.0001"/>
		<origin rpy="0.00000 0.0000 0.00000" xyz="0.07170 0.11400 -0.01890"/>
		<axis xyz="1.00000 0.00000 0.00000"/>
	</joint>
	<joint name="left_clavicle_ry" type="revolute">
		<parent link="left_clavicle_rx"/>
		<child link="left_clavicle_ry"/>
		<limit effort="1000.00000" lower="-3.14" upper="3.14" velocity="0.00000"/>
		<dynamics damping="1.0" friction="0.0001"/>
		<origin rpy="0.00000 0.0000 0.00000" xyz="0.00000 0.00000 0.00000"/>
		<axis xyz="0.00000 1.00000 0.00000"/>
	</joint>
	<joint name="left_clavicle_rz" type="revolute">
		<parent link="left_clavicle_ry"/>
		<child link="left_clavicle_rz"/>
		<limit effort="1000.00000" lower="-3.14" upper="3.14" velocity="0.00000"/>
		<dynamics damping="1.0" friction="0.0001"/>
		<origin rpy="0.00000 0.0000 0.00000" xyz="0.00000 0.00000 0.00000"/>
		<axis xyz="0.00000 0.00000 1.00000"/>
	</joint>
	<joint name="left_clavicle_rzdammy" type="fixed">
		<parent link="left_clavicle_rz"/>
		<child link="left_clavicle_limb"/>
		<origin rpy="0.00000 0.0000 0.00000" xyz="0.00000 0.00000 0.00000"/>
	</joint>
	<joint name="left_shoulder_rx" type="revolute">
		<parent link="left_clavicle_limb"/>
		<child link="left_shoulder_rx"/>
		<limit effort="1000.00000" lower="-3.14" upper="3.14" velocity="0.00000"/>
		<dynamics damping="1.0" friction="0.0001"/>
		<origin rpy="0.00000 0.0000 0.00000" xyz="0.12292 0.04521 -0.01905"/>
		<axis xyz="1.00000 0.00000 0.00000"/>
	</joint>
	<joint name="left_shoulder_ry" type="revolute">
		<parent link="left_shoulder_rx"/>
		<child link="left_shoulder_ry"/>
		<limit effort="1000.00000" lower="-3.14" upper="3.14" velocity="0.00000"/>
		<dynamics damping="1.0" friction="0.0001"/>
		<origin rpy="0.00000 0.0000 0.00000" xyz="0.00000 0.00000 0.00000"/>
		<axis xyz="0.00000 1.00000 0.00000"/>
	</joint>
	<joint name="left_shoulder_rz" type="revolute">
		<parent link="left_shoulder_ry"/>
		<child link="left_shoulder_rz"/>
		<limit effort="1000.00000" lower="-3.14" upper="3.14" velocity="0.00000"/>
		<dynamics damping="1.0" friction="0.0001"/>
		<origin rpy="0.00000 0.0000 0.00000" xyz="0.00000 0.00000 0.00000"/>
		<axis xyz="0.00000 0.00000 1.00000"/>
	</joint>
	<joint name="left_shoulder_rzdammy" type="fixed">
		<parent link="left_shoulder_rz"/>
		<child link="left_shoulder_limb"/>
		<origin rpy="0.00000 0.0000 0.00000" xyz="0.00000 0.00000 0.00000"/>
	</joint>
	<joint name="left_elbow_rx" type="revolute">
		<parent link="left_shoulder_limb"/>
		<child link="left_elbow_rx"/>
		<limit effort="1000.00000" lower="-3.14" upper="3.14" velocity="0.00000"/>
		<dynamics damping="1.0" friction="0.0001"/>
		<origin rpy="0.00000 0.0000 0.00000" xyz="0.25533 -0.01565 -0.02295"/>
		<axis xyz="1.00000 0.00000 0.00000"/>
	</joint>
	<joint name="left_elbow_ry" type="revolute">
		<parent link="left_elbow_rx"/>
		<child link="left_elbow_ry"/>
		<limit effort="1000.00000" lower="-3.14" upper="3.14" velocity="0.00000"/>
		<dynamics damping="1.0" friction="0.0001"/>
		<origin rpy="0.00000 0.0000 0.00000" xyz="0.00000 0.00000 0.00000"/>
		<axis xyz="0.00000 1.00000 0.00000"/>
	</joint>
	<joint name="left_elbow_rz" type="revolute">
		<parent link="left_elbow_ry"/>
		<child link="left_elbow_rz"/>
		<limit effort="1000.00000" lower="-3.14" upper="3.14" velocity="0.00000"/>
		<dynamics damping="1.0" friction="0.0001"/>
		<origin rpy="0.00000 0.0000 0.00000" xyz="0.00000 0.00000 0.00000"/>
		<axis xyz="0.00000 0.00000 1.00000"/>
	</joint>
	<joint name="left_elbow_rzdammy" type="fixed">
		<parent link="left_elbow_rz"/>
		<child link="left_elbow_limb"/>
		<origin rpy="0.00000 0.0000 0.00000" xyz="0.00000 0.00000 0.00000"/>
	</joint>
	<joint name="left_lowarm_rx" type="revolute">
		<parent link="left_elbow_limb"/>
		<child link="left_lowarm_rx"/>
		<limit effort="1000.00000" lower="-3.14" upper="3.14" velocity="0.00000"/>
		<dynamics damping="1.0" friction="0.0001"/>
		<origin rpy="0.00000 0.0000 0.00000" xyz="0.26571 0.01270 -0.00737"/>
		<axis xyz="1.00000 0.00000 0.00000"/>
	</joint>
	<joint name="left_lowarm_ry" type="revolute">
		<parent link="left_lowarm_rx"/>
		<child link="left_lowarm_ry"/>
		<limit effort="1000.00000" lower="-3.14" upper="3.14" velocity="0.00000"/>
		<dynamics damping="1.0" friction="0.0001"/>
		<origin rpy="0.00000 0.0000 0.00000" xyz="0.00000 0.00000 0.00000"/>
		<axis xyz="0.00000 1.00000 0.00000"/>
	</joint>
	<joint name="left_lowarm_rz" type="revolute">
		<parent link="left_lowarm_ry"/>
		<child link="left_lowarm_rz"/>
		<limit effort="1000.00000" lower="-3.14" upper="3.14" velocity="0.00000"/>
		<dynamics damping="1.0" friction="0.0001"/>
		<origin rpy="0.00000 0.0000 0.00000" xyz="0.00000 0.00000 0.00000"/>
		<axis xyz="0.00000 0.00000 1.00000"/>
	</joint>
	<joint name="left_lowarm_rzdammy" type="fixed">
		<parent link="left_lowarm_rz"/>
		<child link="left_lowarm_limb"/>
		<origin rpy="0.00000 0.0000 0.00000" xyz="0.00000 0.00000 0.00000"/>
	</joint>
	<joint name="left_hand_rx" type="revolute">
		<parent link="left_lowarm_limb"/>
		<child link="left_hand_rx"/>
		<limit effort="1000.00000" lower="-3.14" upper="3.14" velocity="0.00000"/>
		<dynamics damping="1.0" friction="0.0001"/>
		<origin rpy="0.00000 0.0000 0.00000" xyz="0.08669 -0.01064 -0.01559"/>
	    <axis xyz="1.00000 0.00000 0.00000"/>
	</joint>
	<joint name="left_hand_ry" type="revolute">
		<parent link="left_hand_rx"/>
		<child link="left_hand_ry"/>
		<limit effort="1000.00000" lower="-3.14" upper="3.14" velocity="0.00000"/>
		<dynamics damping="1.0" friction="0.0001"/>
		<origin rpy="0.00000 0.0000 0.00000" xyz="0.00000 0.00000 0.00000"/>
		<axis xyz="0.00000 1.00000 0.00000"/>
	</joint>
	<joint name="left_hand_rz" type="revolute">
		<parent link="left_hand_ry"/>
		<child link="left_hand_rz"/>
		<limit effort="1000.00000" lower="-3.14" upper="3.14" velocity="0.00000"/>
		<dynamics damping="1.0" friction="0.0001"/>
		<origin rpy="0.00000 0.0000 0.00000" xyz="0.00000 0.00000 0.00000"/>
		<axis xyz="0.00000 0.00000 1.00000"/>
	</joint>
	<joint name="left_hand_rzdammy" type="fixed">
		<parent link="left_hand_rz"/>
		<child link="left_hand_limb"/>
		<origin rpy="0.00000 0.0000 0.00000" xyz="0.00000 0.00000 0.00000"/>
	</joint>
	<joint name="right_clavicle_rx" type="revolute">
		<parent link="spine_4_limb"/>
		<child link="right_clavicle_rx"/>
		<limit effort="1000.00000" lower="-3.14" upper="3.14" velocity="0.00000"/>
		<dynamics damping="1.0" friction="0.0001"/>
		<origin rpy="0.00000 0.0000 0.00000" xyz="-0.08295 0.11247 -0.02371"/>
	    <axis xyz="1.00000 0.00000 0.00000"/>
	</joint>
	<joint name="right_clavicle_ry" type="revolute">
		<parent link="right_clavicle_rx"/>
		<child link="right_clavicle_ry"/>
		<limit effort="1000.00000" lower="-3.14" upper="3.14" velocity="0.00000"/>
		<dynamics damping="1.0" friction="0.0001"/>
		<origin rpy="0.00000 0.0000 0.00000" xyz="0.00000 0.00000 0.00000"/>
		<axis xyz="0.00000 1.00000 0.00000"/>
	</joint>
	<joint name="right_clavicle_rz" type="revolute">
		<parent link="right_clavicle_ry"/>
		<child link="right_clavicle_rz"/>
		<limit effort="1000.00000" lower="-3.14" upper="3.14" velocity="0.00000"/>
		<dynamics damping="1.0" friction="0.0001"/>
		<origin rpy="0.00000 0.0000 0.00000" xyz="0.00000 0.00000 0.00000"/>
		<axis xyz="0.00000 0.00000 1.00000"/>
	</joint>
	<joint name="right_clavicle_rzdammy" type="fixed">
		<parent link="right_clavicle_rz"/>
		<child link="right_clavicle_limb"/>
		<origin rpy="0.00000 0.0000 0.00000" xyz="0.00000 0.00000 0.00000"/>
	</joint>
	<joint name="right_shoulder_rx" type="revolute">
		<parent link="right_clavicle_limb"/>
		<child link="right_shoulder_rx"/>
		<limit effort="1000.00000" lower="-3.14" upper="3.14" velocity="0.00000"/>
		<dynamics damping="1.0" friction="0.0001"/>
		<origin rpy="0.00000 0.0000 0.00000" xyz="-0.11323 0.04685 -0.00847"/>
		<axis xyz="1.00000 0.00000 0.00000"/>
	</joint>
	<joint name="right_shoulder_ry" type="revolute">
		<parent link="right_shoulder_rx"/>
		<child link="right_shoulder_ry"/>
		<limit effort="1000.00000" lower="-3.14" upper="3.14" velocity="0.00000"/>
		<dynamics damping="1.0" friction="0.0001"/>
		<origin rpy="0.00000 0.0000 0.00000" xyz="0.00000 0.00000 0.00000"/>
		<axis xyz="0.00000 1.00000 0.00000"/>
	</joint>
	<joint name="right_shoulder_rz" type="revolute">
		<parent link="right_shoulder_ry"/>
		<child link="right_shoulder_rz"/>
		<limit effort="1000.00000" lower="-3.14" upper="3.14" velocity="0.00000"/>
		<dynamics damping="1.0" friction="0.0001"/>
		<origin rpy="0.00000 0.0000 0.00000" xyz="0.00000 0.00000 0.00000"/>
		<axis xyz="0.00000 0.00000 1.00000"/>
	</joint>
	<joint name="right_shoulder_rzdammy" type="fixed">
		<parent link="right_shoulder_rz"/>
		<child link="right_shoulder_limb"/>
		<origin rpy="0.00000 0.0000 0.00000" xyz="0.00000 0.00000 0.00000"/>
	</joint>
	<joint name="right_elbow_rx" type="revolute">
		<parent link="right_shoulder_limb"/>
		<child link="right_elbow_rx"/>
		<limit effort="1000.00000" lower="-3.14" upper="3.14" velocity="0.00000"/>
		<dynamics damping="1.0" friction="0.0001"/>
		<origin rpy="0.00000 0.0000 0.00000" xyz="-0.26013 -0.01437 -0.03127"/>
		<axis xyz="1.00000 0.00000 0.00000"/>
	</joint>
	<joint name="right_elbow_ry" type="revolute">
		<parent link="right_elbow_rx"/>
		<child link="right_elbow_ry"/>
		<limit effort="1000.00000" lower="-3.14" upper="3.14" velocity="0.00000"/>
		<dynamics damping="1.0" friction="0.0001"/>
		<origin rpy="0.00000 0.0000 0.00000" xyz="0.00000 0.00000 0.00000"/>
	    <axis xyz="0.00000 1.00000 0.00000"/>
	</joint>
	<joint name="right_elbow_rz" type="revolute">
		<parent link="right_elbow_ry"/>
		<child link="right_elbow_rz"/>
		<limit effort="1000.00000" lower="-3.14" upper="3.14" velocity="0.00000"/>
		<dynamics damping="1.0" friction="0.0001"/>
		<origin rpy="0.00000 0.0000 0.00000" xyz="0.00000 0.00000 0.00000"/>
		<axis xyz="0.00000 0.00000 1.00000"/>
	</joint>
	<joint name="right_elbow_rzdammy" type="fixed">
		<parent link="right_elbow_rz"/>
		<child link="right_elbow_limb"/>
		<origin rpy="0.00000 0.0000 0.00000" xyz="0.00000 0.00000 0.00000"/>
	</joint>
	<joint name="right_lowarm_rx" type="revolute">
		<parent link="right_elbow_limb"/>
		<child link="right_lowarm_rx"/>
		<limit effort="1000.00000" lower="-3.14" upper="3.14" velocity="0.00000"/>
		<dynamics damping="1.0" friction="0.0001"/>
		<origin rpy="0.00000 0.0000 0.00000" xyz="-0.26911 0.00679 -0.00603"/>
		<axis xyz="1.00000 0.00000 0.00000"/>
	</joint>
	<joint name="right_lowarm_ry" type="revolute">
		<parent link="right_lowarm_rx"/>
		<child link="right_lowarm_ry"/>
		<limit effort="1000.00000" lower="-3.14" upper="3.14" velocity="0.00000"/>
		<dynamics damping="1.0" friction="0.0001"/>
		<origin rpy="0.00000 0.0000 0.00000" xyz="0.00000 0.00000 0.00000"/>
		<axis xyz="0.00000 1.00000 0.00000"/>
	</joint>
	<joint name="right_lowarm_rz" type="revolute">
		<parent link="right_lowarm_ry"/>
		<child link="right_lowarm_rz"/>
		<limit effort="1000.00000" lower="-3.14" upper="3.14" velocity="0.00000"/>
		<dynamics damping="1.0" friction="0.0001"/>
		<origin rpy="0.00000 0.0000 0.00000" xyz="0.00000 0.00000 0.00000"/>
		<axis xyz="0.00000 0.00000 1.00000"/>
	</joint>
	<joint name="right_lowarm_rzdammy" type="fixed">
		<parent link="right_lowarm_rz"/>
		<child link="right_lowarm_limb"/>
		<origin rpy="0.00000 0.0000 0.00000" xyz="0.00000 0.00000 0.00000"/>
	</joint>
	<joint name="right_hand_rx" type="revolute">
		<parent link="right_lowarm_limb"/>
		<child link="right_hand_rx"/>
		<limit effort="1000.00000" lower="-3.14" upper="3.14" velocity="0.00000"/>
		<dynamics damping="1.0" friction="0.0001"/>
		<origin rpy="0.00000 0.0000 0.00000" xyz="-0.08875 -0.00865 -0.01011"/>
		<axis xyz="1.00000 0.00000 0.00000"/>
	</joint>
	<joint name="right_hand_ry" type="revolute">
		<parent link="right_hand_rx"/>
		<child link="right_hand_ry"/>
		<limit effort="1000.00000" lower="-3.14" upper="3.14" velocity="0.00000"/>
		<dynamics damping="1.0" friction="0.0001"/>
		<origin rpy="0.00000 0.0000 0.00000" xyz="0.00000 0.00000 0.00000"/>
		<axis xyz="0.00000 1.00000 0.00000"/>
	</joint>
	<joint name="right_hand_rz" type="revolute">
		<parent link="right_hand_ry"/>
		<child link="right_hand_rz"/>
		<limit effort="1000.00000" lower="-3.14" upper="3.14" velocity="0.00000"/>
		<dynamics damping="1.0" friction="0.0001"/>
		<origin rpy="0.00000 0.0000 0.00000" xyz="0.00000 0.00000 0.00000"/>
		<axis xyz="0.00000 0.00000 1.00000"/>
	</joint>
	<joint name="right_hand_rzdammy" type="fixed">
		<parent link="right_hand_rz"/>
		<child link="right_hand_limb"/>
		<origin rpy="0.00000 0.0000 0.00000" xyz="0.00000 0.00000 0.00000"/>
	</joint>
</robot>
